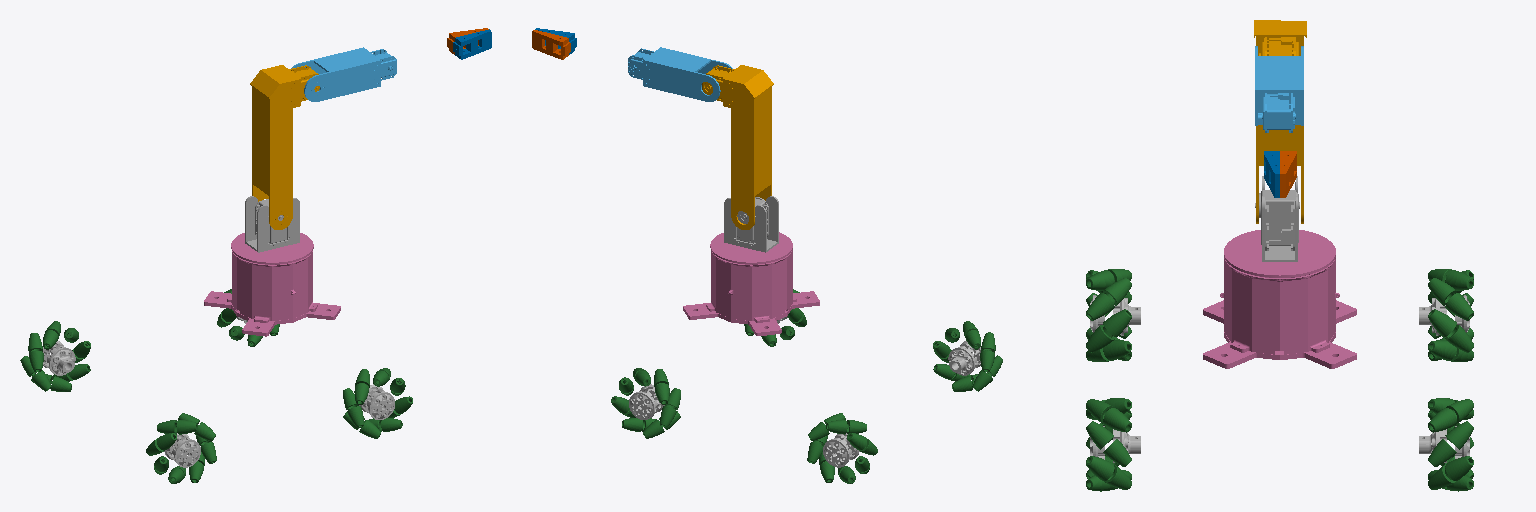
--- What the picture shows (computed from the rendered views, not written in the file) ---
3 views of the same robot in one strip: view 1: azimuth 30°, elevation 25°; view 2: azimuth 150°, elevation 25°; view 3: azimuth 270°, elevation 25° (orthographic).
Robot: omnibot_robot — 94 links, 93 joints (5 revolute, 60 continuous, 2 prismatic, 26 fixed); root link base_footprint; default pose: every joint at zero.
Links seen in each view (by area): view 1: ang_link0, ang_link2, ang_link3, ang_link1, right_front_mecanum_adapter_link, right_back_mecanum_adapter_link, ang_link6, left_back_mecanum_adapter_link; view 2: ang_link0, ang_link2, ang_link3, ang_link1, left_front_mecanum_adapter_link, left_back_mecanum_adapter_link, ang_link7, right_back_mecanum_adapter_link; view 3: ang_link0, ang_link3, ang_link2, ang_link1, ang_link7, ang_link6, right_front_mecanum_adapter_link, left_front_mecanum_adapter_link, left_back_mecanum_adapter_link, right_back_mecanum_adapter_link.
Boxes of the visible links, box(x1,y1,x2,y2) form: ang_link0: box(204, 233, 340, 336); ang_link2: box(250, 65, 319, 229); ang_link3: box(291, 47, 396, 101); ang_link1: box(245, 196, 299, 252); right_front_mecanum_adapter_link: box(359, 384, 394, 419); right_back_mecanum_adapter_link: box(164, 433, 200, 467); ang_link6: box(453, 29, 491, 59); left_back_mecanum_adapter_link: box(43, 341, 75, 375); ang_link0: box(683, 232, 819, 335); ang_link2: box(702, 65, 773, 229); ang_link3: box(628, 47, 732, 101); ang_link1: box(724, 196, 778, 252); left_front_mecanum_adapter_link: box(629, 384, 664, 419); left_back_mecanum_adapter_link: box(823, 433, 859, 467); ang_link7: box(532, 30, 570, 59); right_back_mecanum_adapter_link: box(948, 341, 980, 375); ang_link0: box(1203, 230, 1356, 368); ang_link3: box(1255, 46, 1303, 132); ang_link2: box(1254, 20, 1306, 223); ang_link1: box(1255, 176, 1299, 261); ang_link7: box(1280, 151, 1296, 197); ang_link6: box(1264, 151, 1279, 197); right_front_mecanum_adapter_link: box(1090, 426, 1140, 462); left_front_mecanum_adapter_link: box(1419, 426, 1469, 462); left_back_mecanum_adapter_link: box(1419, 295, 1469, 335); right_back_mecanum_adapter_link: box(1090, 295, 1140, 335).
Bounding box of the posed robot: 0.6909 × 0.4273 × 0.5308 m (x, y, z).
Meshes: 13 distinct files referenced, 66 mesh visuals loaded (7 Collada DAE); not drawn: 9 (reference not matched to a file when rendering).

URDF robot description (omnibot_robot):
<?xml version="1.0" ?>
<!-- =================================================================================== -->
<!-- |    This document was autogenerated by xacro from omnibot_description.urdf.xacro | -->
<!-- |    EDITING THIS FILE BY HAND IS NOT RECOMMENDED                                 | -->
<!-- =================================================================================== -->
<robot name="omnibot_robot">
  <gazebo>
    <plugin filename="libgazebo_ros_control.so" name="gazebo_ros_control">
      <robotNamespace>omnibot_robot</robotNamespace>
    </plugin>
  </gazebo>
  <arg default="omnibot_platform" name="robot_namespace"/>
  <!-- OMNIWHEEL -->
  <!-- REALSENSE -->
  <!-- <xacro:property name="t265_xacro_path"
        value="$(find omnibot_platform_description)/urdf/t265.xacro" />
    <xacro:property name="t265_mesh_path"
        value="package://omnibot_platform_description/meshes/t265.stl" /> -->
  <!-- <xacro:property name="d435_x_offset" value="-0.01950" />
    <xacro:property name="d435_y_offset" value="0.0" />
    <xacro:property name="d435_z_offset" value="0.019" /> -->
  <!--  PLATFORM DESCRIPTION -->
  <link name="base_footprint"/>
  <link name="base_link">
    <inertial>
      <origin rpy="0.0 3.14         -1.57" xyz="0.0 0.0         0.0"/>
      <mass value="3.0"/>
      <inertia ixx="0.03822400000000001" ixy="0" ixz="0" iyy="0.0334243025" iyz="0" izz="0.0334243025"/>
    </inertial>
    <visual name="">
      <origin rpy="0.0 3.14 -1.57" xyz="0.0 0.0 0.0"/>
      <geometry>
        <mesh filename="package://omnibot_platform_description/meshes/base.dae" scale="0.001 0.001 0.001"/>
      </geometry>
      <material name="">
        <color rgba="1.0 0.0 0.0 1.0"/>
        <texture filename=""/>
      </material>
    </visual>
    <collision>
      <origin rpy="0.0 3.14 -1.57" xyz="0.0 0.0 0.0"/>
      <geometry>
        <mesh filename="package://omnibot_platform_description/meshes/base.dae" scale="0.001 0.001 0.001"/>
      </geometry>
    </collision>
  </link>
  <joint name="base_footprint_joint" type="fixed">
    <parent link="base_footprint"/>
    <child link="base_link"/>
    <origin rpy="0.0 0.0 0.0" xyz="0.0 0.0 0.0"/>
  </joint>
  <link name="left_front_mecanum_wheel_link">
    <visual>
      <origin rpy="0 0 1.57" xyz="0 0 0"/>
      <geometry>
        <mesh filename="package://omnibot_platform_description/meshes/wheel_base.dae" scale="0.001 0.001 0.001"/>
      </geometry>
    </visual>
    <collision>
      <origin rpy="0 0 1.57" xyz="0 0 0"/>
      <geometry>
        <mesh filename="package://omnibot_platform_description/meshes/wheel_base.dae" scale="0.001 0.001 0.001"/>
      </geometry>
    </collision>
    <inertial>
      <origin rpy="0 0 0" xyz="0 0 0"/>
      <mass value="0.25"/>
      <inertia ixx="0.0031" ixy="0" ixz="0" iyy="0.005" iyz="0" izz="0.0031"/>
    </inertial>
  </link>
  <joint name="left_front_adapter_connector_joint" type="fixed">
    <parent link="left_front_mecanum_wheel_link"/>
    <child link="left_front_mecanum_adapter_link"/>
    <origin rpy="0 0 1.57" xyz="0 0 0"/>
  </joint>
  <link name="left_front_mecanum_adapter_link">
    <visual>
      <origin rpy="0 0 1.57" xyz="0 0.035 0"/>
      <geometry>
        <mesh filename="package://omnibot_platform_description/meshes/adapter.dae" scale="0.001 0.001 0.001"/>
      </geometry>
    </visual>
    <collision>
      <origin rpy="0 0 1.57" xyz="0 0.035 0"/>
      <geometry>
        <mesh filename="package://omnibot_platform_description/meshes/adapter.dae" scale="0.001 0.001 0.001"/>
      </geometry>
    </collision>
    <inertial>
      <origin rpy="0 0 0" xyz="0 0 0"/>
      <mass value="0.005"/>
      <inertia ixx="0.00001" ixy="0.0" ixz="0.0" iyy="0.00001" iyz="0.0" izz="0.00001"/>
    </inertial>
  </link>
  <gazebo reference="left_front_wheel_link">
    <mu1 value="0.6"/>
    <mu2 value="0.6"/>
    <kp value="10000000.0"/>
    <kd value="1.0"/>
    <fdir1 value="0 1 0"/>
  </gazebo>
  <link name="left_front_roller_1_7_link">
    <visual>
      <origin rpy="0 0 0" xyz="-0.002 0 0"/>
      <geometry>
        <mesh filename="package://omnibot_platform_description/meshes/wheel_roller2.dae" scale="0.001 0.001 0.001"/>
      </geometry>
    </visual>
    <collision>
      <origin rpy="0 0 0" xyz="-0.002 0 0"/>
      <geometry>
        <mesh filename="package://omnibot_platform_description/meshes/wheel_roller2.dae" scale="0.001 0.001 0.001"/>
      </geometry>
    </collision>
    <inertial>
      <origin rpy="0 0 0" xyz="-0.002 0 0"/>
      <mass value="0.3"/>
      <inertia ixx="0.00024000" ixy="0.0" ixz="0.0" iyy="0.00076000" iyz="0.0" izz="0.00076000"/>
    </inertial>
    <surface>
      <friction>
        <ode>
          <mu1>10.2</mu1>
          <mu2>10.2</mu2>
          <kp>1e15</kp>
          <kd>1e13</kd>
        </ode>
      </friction>
      <bounce>
        <restitution_coefficient>0.01</restitution_coefficient>
        <threshold>0</threshold>
      </bounce>
      <contact>
        <ode>
          <max_vel>100</max_vel>
        </ode>
      </contact>
    </surface>
  </link>
  <joint name="left_front_roller_1_7_joint" type="continuous">
    <origin rpy="1.0573448805303245 0.4565720337917211 -0.6635639812413235" xyz="0 0.025122274586293944 -0.03149920859715446"/>
    <axis xyz="1 0 0"/>
    <parent link="left_front_mecanum_wheel_link"/>
    <child link="left_front_roller_1_7_link"/>
    <!-- <safety_controller k_velocity="10.0" /> -->
    <dynamics damping="0.001" friction="0.0001"/>
  </joint>
  <transmission name="left_front_roller_1_7_trans">
    <type>transmission_interface/SimpleTransmission</type>
    <joint name="left_front_roller_1_7_joint">
      <hardwareInterface>hardware_interface/EffortJointInterface</hardwareInterface>
    </joint>
    <actuator name="left_front_roller_1_7_motor">
      <hardwareInterface>hardware_interface/EffortJointInterface</hardwareInterface>
      <mechanismReduction>1</mechanismReduction>
    </actuator>
  </transmission>
  <!-- <gazebo reference="${joint_name}_link">
        <selfCollide>0</selfCollide>
        <kp>1000000</kp>
        <kd>100</kd>
      </gazebo> -->
  <link name="left_front_roller_1_6_link">
    <visual>
      <origin rpy="0 0 0" xyz="-0.002 0 0"/>
      <geometry>
        <mesh filename="package://omnibot_platform_description/meshes/wheel_roller2.dae" scale="0.001 0.001 0.001"/>
      </geometry>
    </visual>
    <collision>
      <origin rpy="0 0 0" xyz="-0.002 0 0"/>
      <geometry>
        <mesh filename="package://omnibot_platform_description/meshes/wheel_roller2.dae" scale="0.001 0.001 0.001"/>
      </geometry>
    </collision>
    <inertial>
      <origin rpy="0 0 0" xyz="-0.002 0 0"/>
      <mass value="0.3"/>
      <inertia ixx="0.00024000" ixy="0.0" ixz="0.0" iyy="0.00076000" iyz="0.0" izz="0.00076000"/>
    </inertial>
    <surface>
      <friction>
        <ode>
          <mu1>10.2</mu1>
          <mu2>10.2</mu2>
          <kp>1e15</kp>
          <kd>1e13</kd>
        </ode>
      </friction>
      <bounce>
        <restitution_coefficient>0.01</restitution_coefficient>
        <threshold>0</threshold>
      </bounce>
      <contact>
        <ode>
          <max_vel>100</max_vel>
        </ode>
      </contact>
    </surface>
  </link>
  <joint name="left_front_roller_1_6_joint" type="continuous">
    <origin rpy="-1.410783610235587 -0.15800265975965155 -0.7727036539648158" xyz="0 -0.008966035991901749 -0.039278870653893495"/>
    <axis xyz="1 0 0"/>
    <parent link="left_front_mecanum_wheel_link"/>
    <child link="left_front_roller_1_6_link"/>
    <!-- <safety_controller k_velocity="10.0" /> -->
    <dynamics damping="0.001" friction="0.0001"/>
  </joint>
  <transmission name="left_front_roller_1_6_trans">
    <type>transmission_interface/SimpleTransmission</type>
    <joint name="left_front_roller_1_6_joint">
      <hardwareInterface>hardware_interface/EffortJointInterface</hardwareInterface>
    </joint>
    <actuator name="left_front_roller_1_6_motor">
      <hardwareInterface>hardware_interface/EffortJointInterface</hardwareInterface>
      <mechanismReduction>1</mechanismReduction>
    </actuator>
  </transmission>
  <!-- <gazebo reference="${joint_name}_link">
        <selfCollide>0</selfCollide>
        <kp>1000000</kp>
        <kd>100</kd>
      </gazebo> -->
  <link name="left_front_roller_1_5_link">
    <visual>
      <origin rpy="0 0 0" xyz="-0.002 0 0"/>
      <geometry>
        <mesh filename="package://omnibot_platform_description/meshes/wheel_roller2.dae" scale="0.001 0.001 0.001"/>
      </geometry>
    </visual>
    <collision>
      <origin rpy="0 0 0" xyz="-0.002 0 0"/>
      <geometry>
        <mesh filename="package://omnibot_platform_description/meshes/wheel_roller2.dae" scale="0.001 0.001 0.001"/>
      </geometry>
    </collision>
    <inertial>
      <origin rpy="0 0 0" xyz="-0.002 0 0"/>
      <mass value="0.3"/>
      <inertia ixx="0.00024000" ixy="0.0" ixz="0.0" iyy="0.00076000" iyz="0.0" izz="0.00076000"/>
    </inertial>
    <surface>
      <friction>
        <ode>
          <mu1>10.2</mu1>
          <mu2>10.2</mu2>
          <kp>1e15</kp>
          <kd>1e13</kd>
        </ode>
      </friction>
      <bounce>
        <restitution_coefficient>0.01</restitution_coefficient>
        <threshold>0</threshold>
      </bounce>
      <contact>
        <ode>
          <max_vel>100</max_vel>
        </ode>
      </contact>
    </surface>
  </link>
  <joint name="left_front_roller_1_5_joint" type="continuous">
    <origin rpy="-0.5978938662841263 -0.6907055756402474 -0.4093711270983411" xyz="0 -0.036302738594392175 -0.017480741965307293"/>
    <axis xyz="1 0 0"/>
    <parent link="left_front_mecanum_wheel_link"/>
    <child link="left_front_roller_1_5_link"/>
    <!-- <safety_controller k_velocity="10.0" /> -->
    <dynamics damping="0.001" friction="0.0001"/>
  </joint>
  <transmission name="left_front_roller_1_5_trans">
    <type>transmission_interface/SimpleTransmission</type>
    <joint name="left_front_roller_1_5_joint">
      <hardwareInterface>hardware_interface/EffortJointInterface</hardwareInterface>
    </joint>
    <actuator name="left_front_roller_1_5_motor">
      <hardwareInterface>hardware_interface/EffortJointInterface</hardwareInterface>
      <mechanismReduction>1</mechanismReduction>
    </actuator>
  </transmission>
  <!-- <gazebo reference="${joint_name}_link">
        <selfCollide>0</selfCollide>
        <kp>1000000</kp>
        <kd>100</kd>
      </gazebo> -->
  <link name="left_front_roller_1_4_link">
    <visual>
      <origin rpy="0 0 0" xyz="-0.002 0 0"/>
      <geometry>
        <mesh filename="package://omnibot_platform_description/meshes/wheel_roller2.dae" scale="0.001 0.001 0.001"/>
      </geometry>
    </visual>
    <collision>
      <origin rpy="0 0 0" xyz="-0.002 0 0"/>
      <geometry>
        <mesh filename="package://omnibot_platform_description/meshes/wheel_roller2.dae" scale="0.001 0.001 0.001"/>
      </geometry>
    </collision>
    <inertial>
      <origin rpy="0 0 0" xyz="-0.002 0 0"/>
      <mass value="0.3"/>
      <inertia ixx="0.00024000" ixy="0.0" ixz="0.0" iyy="0.00076000" iyz="0.0" izz="0.00076000"/>
    </inertial>
    <surface>
      <friction>
        <ode>
          <mu1>10.2</mu1>
          <mu2>10.2</mu2>
          <kp>1e15</kp>
          <kd>1e13</kd>
        </ode>
      </friction>
      <bounce>
        <restitution_coefficient>0.01</restitution_coefficient>
        <threshold>0</threshold>
      </bounce>
      <contact>
        <ode>
          <max_vel>100</max_vel>
        </ode>
      </contact>
    </surface>
  </link>
  <joint name="left_front_roller_1_4_joint" type="continuous">
    <origin rpy="0.5978938662841266 -0.6907055756402473 0.4093711270983413" xyz="0 -0.036302738594392175 0.017480741965307304"/>
    <axis xyz="1 0 0"/>
    <parent link="left_front_mecanum_wheel_link"/>
    <child link="left_front_roller_1_4_link"/>
    <!-- <safety_controller k_velocity="10.0" /> -->
    <dynamics damping="0.001" friction="0.0001"/>
  </joint>
  <transmission name="left_front_roller_1_4_trans">
    <type>transmission_interface/SimpleTransmission</type>
    <joint name="left_front_roller_1_4_joint">
      <hardwareInterface>hardware_interface/EffortJointInterface</hardwareInterface>
    </joint>
    <actuator name="left_front_roller_1_4_motor">
      <hardwareInterface>hardware_interface/EffortJointInterface</hardwareInterface>
      <mechanismReduction>1</mechanismReduction>
    </actuator>
  </transmission>
  <!-- <gazebo reference="${joint_name}_link">
        <selfCollide>0</selfCollide>
        <kp>1000000</kp>
        <kd>100</kd>
      </gazebo> -->
  <link name="left_front_roller_1_3_link">
    <visual>
      <origin rpy="0 0 0" xyz="-0.002 0 0"/>
      <geometry>
        <mesh filename="package://omnibot_platform_description/meshes/wheel_roller2.dae" scale="0.001 0.001 0.001"/>
      </geometry>
    </visual>
    <collision>
      <origin rpy="0 0 0" xyz="-0.002 0 0"/>
      <geometry>
        <mesh filename="package://omnibot_platform_description/meshes/wheel_roller2.dae" scale="0.001 0.001 0.001"/>
      </geometry>
    </collision>
    <inertial>
      <origin rpy="0 0 0" xyz="-0.002 0 0"/>
      <mass value="0.3"/>
      <inertia ixx="0.00024000" ixy="0.0" ixz="0.0" iyy="0.00076000" iyz="0.0" izz="0.00076000"/>
    </inertial>
    <surface>
      <friction>
        <ode>
          <mu1>10.2</mu1>
          <mu2>10.2</mu2>
          <kp>1e15</kp>
          <kd>1e13</kd>
        </ode>
      </friction>
      <bounce>
        <restitution_coefficient>0.01</restitution_coefficient>
        <threshold>0</threshold>
      </bounce>
      <contact>
        <ode>
          <max_vel>100</max_vel>
        </ode>
      </contact>
    </surface>
  </link>
  <joint name="left_front_roller_1_3_joint" type="continuous">
    <origin rpy="1.4107836102355866 -0.15800265975965203 0.7727036539648157" xyz="0 -0.008966035991901775 0.03927887065389349"/>
    <axis xyz="1 0 0"/>
    <parent link="left_front_mecanum_wheel_link"/>
    <child link="left_front_roller_1_3_link"/>
    <!-- <safety_controller k_velocity="10.0" /> -->
    <dynamics damping="0.001" friction="0.0001"/>
  </joint>
  <transmission name="left_front_roller_1_3_trans">
    <type>transmission_interface/SimpleTransmission</type>
    <joint name="left_front_roller_1_3_joint">
      <hardwareInterface>hardware_interface/EffortJointInterface</hardwareInterface>
    </joint>
    <actuator name="left_front_roller_1_3_motor">
      <hardwareInterface>hardware_interface/EffortJointInterface</hardwareInterface>
      <mechanismReduction>1</mechanismReduction>
    </actuator>
  </transmission>
  <!-- <gazebo reference="${joint_name}_link">
        <selfCollide>0</selfCollide>
        <kp>1000000</kp>
        <kd>100</kd>
      </gazebo> -->
  <link name="left_front_roller_1_2_link">
    <visual>
      <origin rpy="0 0 0" xyz="-0.002 0 0"/>
      <geometry>
        <mesh filename="package://omnibot_platform_description/meshes/wheel_roller2.dae" scale="0.001 0.001 0.001"/>
      </geometry>
    </visual>
    <collision>
      <origin rpy="0 0 0" xyz="-0.002 0 0"/>
      <geometry>
        <mesh filename="package://omnibot_platform_description/meshes/wheel_roller2.dae" scale="0.001 0.001 0.001"/>
      </geometry>
    </collision>
    <inertial>
      <origin rpy="0 0 0" xyz="-0.002 0 0"/>
      <mass value="0.3"/>
      <inertia ixx="0.00024000" ixy="0.0" ixz="0.0" iyy="0.00076000" iyz="0.0" izz="0.00076000"/>
    </inertial>
    <surface>
      <friction>
        <ode>
          <mu1>10.2</mu1>
          <mu2>10.2</mu2>
          <kp>1e15</kp>
          <kd>1e13</kd>
        </ode>
      </friction>
      <bounce>
        <restitution_coefficient>0.01</restitution_coefficient>
        <threshold>0</threshold>
      </bounce>
      <contact>
        <ode>
          <max_vel>100</max_vel>
        </ode>
      </contact>
    </surface>
  </link>
  <joint name="left_front_roller_1_2_joint" type="continuous">
    <origin rpy="-1.0573448805303243 0.4565720337917213 0.6635639812413234" xyz="0 0.025122274586293954 0.03149920859715445"/>
    <axis xyz="1 0 0"/>
    <parent link="left_front_mecanum_wheel_link"/>
    <child link="left_front_roller_1_2_link"/>
    <!-- <safety_controller k_velocity="10.0" /> -->
    <dynamics damping="0.001" friction="0.0001"/>
  </joint>
  <transmission name="left_front_roller_1_2_trans">
    <type>transmission_interface/SimpleTransmission</type>
    <joint name="left_front_roller_1_2_joint">
      <hardwareInterface>hardware_interface/EffortJointInterface</hardwareInterface>
    </joint>
    <actuator name="left_front_roller_1_2_motor">
      <hardwareInterface>hardware_interface/EffortJointInterface</hardwareInterface>
      <mechanismReduction>1</mechanismReduction>
    </actuator>
  </transmission>
  <!-- <gazebo reference="${joint_name}_link">
        <selfCollide>0</selfCollide>
        <kp>1000000</kp>
        <kd>100</kd>
      </gazebo> -->
  <link name="left_front_roller_1_1_link">
    <visual>
      <origin rpy="0 0 0" xyz="-0.002 0 0"/>
      <geometry>
        <mesh filename="package://omnibot_platform_description/meshes/wheel_roller2.dae" scale="0.001 0.001 0.001"/>
      </geometry>
    </visual>
    <collision>
      <origin rpy="0 0 0" xyz="-0.002 0 0"/>
      <geometry>
        <mesh filename="package://omnibot_platform_description/meshes/wheel_roller2.dae" scale="0.001 0.001 0.001"/>
      </geometry>
    </collision>
    <inertial>
      <origin rpy="0 0 0" xyz="-0.002 0 0"/>
      <mass value="0.3"/>
      <inertia ixx="0.00024000" ixy="0.0" ixz="0.0" iyy="0.00076000" iyz="0.0" izz="0.00076000"/>
    </inertial>
    <surface>
      <friction>
        <ode>
          <mu1>10.2</mu1>
          <mu2>10.2</mu2>
          <kp>1e15</kp>
          <kd>1e13</kd>
        </ode>
      </friction>
      <bounce>
        <restitution_coefficient>0.01</restitution_coefficient>
        <threshold>0</threshold>
      </bounce>
      <contact>
        <ode>
          <max_vel>100</max_vel>
        </ode>
      </contact>
    </surface>
  </link>
  <joint name="left_front_roller_1_1_joint" type="continuous">
    <origin rpy="-0.0 0.7853981633974482 0.0" xyz="0 0.040293 0.0"/>
    <axis xyz="1 0 0"/>
    <parent link="left_front_mecanum_wheel_link"/>
    <child link="left_front_roller_1_1_link"/>
    <!-- <safety_controller k_velocity="10.0" /> -->
    <dynamics damping="0.001" friction="0.0001"/>
  </joint>
  <transmission name="left_front_roller_1_1_trans">
    <type>transmission_interface/SimpleTransmission</type>
    <joint name="left_front_roller_1_1_joint">
      <hardwareInterface>hardware_interface/EffortJointInterface</hardwareInterface>
    </joint>
    <actuator name="left_front_roller_1_1_motor">
      <hardwareInterface>hardware_interface/EffortJointInterface</hardwareInterface>
      <mechanismReduction>1</mechanismReduction>
    </actuator>
  </transmission>
  <!-- <gazebo reference="${joint_name}_link">
        <selfCollide>0</selfCollide>
        <kp>1000000</kp>
        <kd>100</kd>
      </gazebo> -->
  <link name="left_front_roller_2_7_link">
    <visual>
      <origin rpy="0 0 0" xyz="-0.002 0 0"/>
      <geometry>
        <mesh filename="package://omnibot_platform_description/meshes/wheel_roller2.dae" scale="0.001 0.001 0.001"/>
      </geometry>
    </visual>
    <collision>
      <origin rpy="0 0 0" xyz="-0.002 0 0"/>
      <geometry>
        <mesh filename="package://omnibot_platform_description/meshes/wheel_roller2.dae" scale="0.001 0.001 0.001"/>
      </geometry>
    </collision>
    <inertial>
      <origin rpy="0 0 0" xyz="-0.002 0 0"/>
      <mass value="0.3"/>
      <inertia ixx="0.00024000" ixy="0.0" ixz="0.0" iyy="0.00076000" iyz="0.0" izz="0.00076000"/>
    </inertial>
    <surface>
      <friction>
        <ode>
          <mu1>10.2</mu1>
          <mu2>10.2</mu2>
          <kp>1e15</kp>
          <kd>1e13</kd>
        </ode>
      </friction>
      <bounce>
        <restitution_coefficient>0.01</restitution_coefficient>
        <threshold>0</threshold>
      </bounce>
      <contact>
        <ode>
          <max_vel>100</max_vel>
        </ode>
      </contact>
    </surface>
  </link>
  <joint name="left_front_roller_2_7_joint" type="continuous">
    <origin rpy="4.197344880530324 3.596572033791721 -0.6635639812413235" xyz="0 0.025122274586293944 -0.03149920859715446"/>
    <axis xyz="1 0 0"/>
    <parent link="left_front_mecanum_wheel_link"/>
    <child link="left_front_roller_2_7_link"/>
    <!-- <safety_controller k_velocity="10.0" /> -->
    <dynamics damping="0.001" friction="0.0001"/>
  </joint>
  <transmission name="left_front_roller_2_7_trans">
    <type>transmission_interface/SimpleTransmission</type>
    <joint name="left_front_roller_2_7_joint">
      <hardwareInterface>hardware_interface/EffortJointInterface</hardwareInterface>
    </joint>
    <actuator name="left_front_roller_2_7_motor">
      <hardwareInterface>hardware_interface/EffortJointInterface</hardwareInterface>
      <mechanismReduction>1</mechanismReduction>
    </actuator>
  </transmission>
  <!-- <gazebo reference="${joint_name}_link">
        <selfCollide>0</selfCollide>
        <kp>1000000</kp>
        <kd>100</kd>
      </gazebo> -->
  <link name="left_front_roller_2_6_link">
    <visual>
      <origin rpy="0 0 0" xyz="-0.002 0 0"/>
      <geometry>
        <mesh filename="package://omnibot_platform_description/meshes/wheel_roller2.dae" scale="0.001 0.001 0.001"/>
      </geometry>
    </visual>
    <collision>
      <origin rpy="0 0 0" xyz="-0.002 0 0"/>
      <geometry>
        <mesh filename="package://omnibot_platform_description/meshes/wheel_roller2.dae" scale="0.001 0.001 0.001"/>
      </geometry>
    </collision>
    <inertial>
      <origin rpy="0 0 0" xyz="-0.002 0 0"/>
      <mass value="0.3"/>
      <inertia ixx="0.00024000" ixy="0.0" ixz="0.0" iyy="0.00076000" iyz="0.0" izz="0.00076000"/>
    </inertial>
    <surface>
      <friction>
        <ode>
          <mu1>10.2</mu1>
          <mu2>10.2</mu2>
          <kp>1e15</kp>
          <kd>1e13</kd>
        </ode>
      </friction>
      <bounce>
        <restitution_coefficient>0.01</restitution_coefficient>
        <threshold>0</threshold>
      </bounce>
      <contact>
        <ode>
          <max_vel>100</max_vel>
        </ode>
      </contact>
    </surface>
  </link>
  <joint name="left_front_roller_2_6_joint" type="continuous">
    <origin rpy="1.729216389764413 2.9819973402403486 -0.7727036539648158" xyz="0 -0.008966035991901749 -0.039278870653893495"/>
    <axis xyz="1 0 0"/>
    <parent link="left_front_mecanum_wheel_link"/>
    <child link="left_front_roller_2_6_link"/>
    <!-- <safety_controller k_velocity="10.0" /> -->
    <dynamics damping="0.001" friction="0.0001"/>
  </joint>
  <transmission name="left_front_roller_2_6_trans">
    <type>transmission_interface/SimpleTransmission</type>
    <joint name="left_front_roller_2_6_joint">
      <hardwareInterface>hardware_interface/EffortJointInterface</hardwareInterface>
    </joint>
    <actuator name="left_front_roller_2_6_motor">
      <hardwareInterface>hardware_interface/EffortJointInterface</hardwareInterface>
      <mechanismReduction>1</mechanismReduction>
    </actuator>
  </transmission>
  <!-- <gazebo reference="${joint_name}_link">
        <selfCollide>0</selfCollide>
        <kp>1000000</kp>
        <kd>100</kd>
      </gazebo> -->
  <link name="left_front_roller_2_5_link">
    <visual>
      <origin rpy="0 0 0" xyz="-0.002 0 0"/>
      <geometry>
        <mesh filename="package://omnibot_platform_description/meshes/wheel_roller2.dae" scale="0.001 0.001 0.001"/>
      </geometry>
    </visual>
    <collision>
      <origin rpy="0 0 0" xyz="-0.002 0 0"/>
      <geometry>
        <mesh filename="package://omnibot_platform_description/meshes/wheel_roller2.dae" scale="0.001 0.001 0.001"/>
      </geometry>
    </collision>
    <inertial>
      <origin rpy="0 0 0" xyz="-0.002 0 0"/>
      <mass value="0.3"/>
      <inertia ixx="0.00024000" ixy="0.0" ixz="0.0" iyy="0.00076000" iyz="0.0" izz="0.00076000"/>
    </inertial>
    <surface>
      <friction>
        <ode>
          <mu1>10.2</mu1>
          <mu2>10.2</mu2>
          <kp>1e15</kp>
          <kd>1e13</kd>
        </ode>
      </friction>
      <bounce>
        <restitution_coefficient>0.01</restitution_coefficient>
        <threshold>0</threshold>
      </bounce>
      <contact>
        <ode>
          <max_vel>100</max_vel>
        </ode>
      </contact>
    </surface>
  </link>
  <joint name="left_front_roller_2_5_joint" type="continuous">
    <origin rpy="2.542106133715874 2.4492944243597528 -0.4093711270983411" xyz="0 -0.036302738594392175 -0.017480741965307293"/>
    <axis xyz="1 0 0"/>
    <parent link="left_front_mecanum_wheel_link"/>
    <child link="left_front_roller_2_5_link"/>
    <!-- <safety_controller k_velocity="10.0" /> -->
    <dynamics damping="0.001" friction="0.0001"/>
  </joint>
  <transmission name="left_front_roller_2_5_trans">
    <type>transmission_interface/SimpleTransmission</type>
    <joint name="left_front_roller_2_5_joint">
      <hardwareInterface>hardware_interface/EffortJointInterface</hardwareInterface>
    </joint>
    <actuator name="left_front_roller_2_5_motor">
      <hardwareInterface>hardware_interface/EffortJointInterface</hardwareInterface>
      <mechanismReduction>1</mechanismReduction>
    </actuator>
  </transmission>
  <!-- <gazebo reference="${joint_name}_link">
        <selfCollide>0</selfCollide>
        <kp>1000000</kp>
        <kd>100</kd>
      </gazebo> -->
  <link name="left_front_roller_2_4_link">
    <visual>
      <origin rpy="0 0 0" xyz="-0.002 0 0"/>
      <geometry>
        <mesh filename="package://omnibot_platform_description/meshes/wheel_roller2.dae" scale="0.001 0.001 0.001"/>
      </geometry>
    </visual>
    <collision>
      <origin rpy="0 0 0" xyz="-0.002 0 0"/>
      <geometry>
        <mesh filename="package://omnibot_platform_description/meshes/wheel_roller2.dae" scale="0.001 0.001 0.001"/>
      </geometry>
    </collision>
    <inertial>
      <origin rpy="0 0 0" xyz="-0.002 0 0"/>
      <mass value="0.3"/>
      <inertia ixx="0.00024000" ixy="0.0" ixz="0.0" iyy="0.00076000" iyz="0.0" izz="0.00076000"/>
    </inertial>
    <surface>
      <friction>
        <ode>
          <mu1>10.2</mu1>
          <mu2>10.2</mu2>
          <kp>1e15</kp>
          <kd>1e13</kd>
        </ode>
      </friction>
      <bounce>
        <restitution_coefficient>0.01</restitution_coefficient>
        <threshold>0</threshold>
      </bounce>
      <contact>
        <ode>
          <max_vel>100</max_vel>
        </ode>
      </contact>
    </surface>
  </link>
  <joint name="left_front_roller_2_4_joint" type="continuous">
    <origin rpy="3.737893866284127 2.4492944243597528 0.4093711270983413" xyz="0 -0.036302738594392175 0.017480741965307304"/>
    <axis xyz="1 0 0"/>
    <parent link="left_front_mecanum_wheel_link"/>
    <child link="left_front_roller_2_4_link"/>
    <!-- <safety_controller k_velocity="10.0" /> -->
    <dynamics damping="0.001" friction="0.0001"/>
  </joint>
  <transmission name="left_front_roller_2_4_trans">
    <type>transmission_interface/SimpleTransmission</type>
    <joint name="left_front_roller_2_4_joint">
      <hardwareInterface>hardware_interface/EffortJointInterface</hardwareInterface>
    </joint>
    <actuator name="left_front_roller_2_4_motor">
      <hardwareInterface>hardware_interface/EffortJointInterface</hardwareInterface>
      <mechanismReduction>1</mechanismReduction>
    </actuator>
  </transmission>
  <!-- <gazebo reference="${joint_name}_link">
        <selfCollide>0</selfCollide>
        <kp>1000000</kp>
        <kd>100</kd>
      </gazebo> -->
  <link name="left_front_roller_2_3_link">
    <visual>
      <origin rpy="0 0 0" xyz="-0.002 0 0"/>
      <geometry>
        <mesh filename="package://omnibot_platform_description/meshes/wheel_roller2.dae" scale="0.001 0.001 0.001"/>
      </geometry>
    </visual>
    <collision>
      <origin rpy="0 0 0" xyz="-0.002 0 0"/>
      <geometry>
        <mesh filename="package://omnibot_platform_description/meshes/wheel_roller2.dae" scale="0.001 0.001 0.001"/>
      </geometry>
    </collision>
    <inertial>
      <origin rpy="0 0 0" xyz="-0.002 0 0"/>
      <mass value="0.3"/>
      <inertia ixx="0.00024000" ixy="0.0" ixz="0.0" iyy="0.00076000" iyz="0.0" izz="0.00076000"/>
    </inertial>
    <surface>
      <friction>
        <ode>
          <mu1>10.2</mu1>
          <mu2>10.2</mu2>
          <kp>1e15</kp>
          <kd>1e13</kd>
        </ode>
      </friction>
      <bounce>
        <restitution_coefficient>0.01</restitution_coefficient>
        <threshold>0</threshold>
      </bounce>
      <contact>
        <ode>
          <max_vel>100</max_vel>
        </ode>
      </contact>
    </surface>
  </link>
  <joint name="left_front_roller_2_3_joint" type="continuous">
    <origin rpy="4.5507836102355865 2.981997340240348 0.7727036539648157" xyz="0 -0.008966035991901775 0.03927887065389349"/>
    <axis xyz="1 0 0"/>
    <parent link="left_front_mecanum_wheel_link"/>
    <child link="left_front_roller_2_3_link"/>
    <!-- <safety_controller k_velocity="10.0" /> -->
    <dynamics damping="0.001" friction="0.0001"/>
  </joint>
  <transmission name="left_front_roller_2_3_trans">
    <type>transmission_interface/SimpleTransmission</type>
    <joint name="left_front_roller_2_3_joint">
      <hardwareInterface>hardware_interface/EffortJointInterface</hardwareInterface>
    </joint>
    <actuator name="left_front_roller_2_3_motor">
      <hardwareInterface>hardware_interface/EffortJointInterface</hardwareInterface>
      <mechanismReduction>1</mechanismReduction>
    </actuator>
  </transmission>
  <!-- <gazebo reference="${joint_name}_link">
        <selfCollide>0</selfCollide>
        <kp>1000000</kp>
        <kd>100</kd>
      </gazebo> -->
  <link name="left_front_roller_2_2_link">
    <visual>
      <origin rpy="0 0 0" xyz="-0.002 0 0"/>
      <geometry>
        <mesh filename="package://omnibot_platform_description/meshes/wheel_roller2.dae" scale="0.001 0.001 0.001"/>
      </geometry>
    </visual>
    <collision>
      <origin rpy="0 0 0" xyz="-0.002 0 0"/>
      <geometry>
        <mesh filename="package://omnibot_platform_description/meshes/wheel_roller2.dae" scale="0.001 0.001 0.001"/>
      </geometry>
    </collision>
    <inertial>
      <origin rpy="0 0 0" xyz="-0.002 0 0"/>
      <mass value="0.3"/>
      <inertia ixx="0.00024000" ixy="0.0" ixz="0.0" iyy="0.00076000" iyz="0.0" izz="0.00076000"/>
    </inertial>
    <surface>
      <friction>
        <ode>
          <mu1>10.2</mu1>
          <mu2>10.2</mu2>
          <kp>1e15</kp>
          <kd>1e13</kd>
        </ode>
      </friction>
      <bounce>
        <restitution_coefficient>0.01</restitution_coefficient>
        <threshold>0</threshold>
      </bounce>
      <contact>
        <ode>
          <max_vel>100</max_vel>
        </ode>
      </contact>
    </surface>
  </link>
  <joint name="left_front_roller_2_2_joint" type="continuous">
    <origin rpy="2.082655119469676 3.5965720337917215 0.6635639812413234" xyz="0 0.025122274586293954 0.03149920859715445"/>
    <axis xyz="1 0 0"/>
    <parent link="left_front_mecanum_wheel_link"/>
    <child link="left_front_roller_2_2_link"/>
    <!-- <safety_controller k_velocity="10.0" /> -->
    <dynamics damping="0.001" friction="0.0001"/>
  </joint>
  <transmission name="left_front_roller_2_2_trans">
    <type>transmission_interface/SimpleTransmission</type>
    <joint name="left_front_roller_2_2_joint">
      <hardwareInterface>hardware_interface/EffortJointInterface</hardwareInterface>
    </joint>
    <actuator name="left_front_roller_2_2_motor">
      <hardwareInterface>hardware_interface/EffortJointInterface</hardwareInterface>
      <mechanismReduction>1</mechanismReduction>
    </actuator>
  </transmission>
  <!-- <gazebo reference="${joint_name}_link">
        <selfCollide>0</selfCollide>
        <kp>1000000</kp>
        <kd>100</kd>
      </gazebo> -->
  <link name="left_front_roller_2_1_link">
    <visual>
      <origin rpy="0 0 0" xyz="-0.002 0 0"/>
      <geometry>
        <mesh filename="package://omnibot_platform_description/meshes/wheel_roller2.dae" scale="0.001 0.001 0.001"/>
      </geometry>
    </visual>
    <collision>
      <origin rpy="0 0 0" xyz="-0.002 0 0"/>
      <geometry>
        <mesh filename="package://omnibot_platform_description/meshes/wheel_roller2.dae" scale="0.001 0.001 0.001"/>
      </geometry>
    </collision>
    <inertial>
      <origin rpy="0 0 0" xyz="-0.002 0 0"/>
      <mass value="0.3"/>
      <inertia ixx="0.00024000" ixy="0.0" ixz="0.0" iyy="0.00076000" iyz="0.0" izz="0.00076000"/>
    </inertial>
    <surface>
      <friction>
        <ode>
          <mu1>10.2</mu1>
          <mu2>10.2</mu2>
          <kp>1e15</kp>
          <kd>1e13</kd>
        </ode>
      </friction>
      <bounce>
        <restitution_coefficient>0.01</restitution_coefficient>
        <threshold>0</threshold>
      </bounce>
      <contact>
        <ode>
          <max_vel>100</max_vel>
        </ode>
      </contact>
    </surface>
  </link>
  <joint name="left_front_roller_2_1_joint" type="continuous">
    <origin rpy="3.14 3.9253981633974484 0.0" xyz="0 0.040293 0.0"/>
    <axis xyz="1 0 0"/>
    <parent link="left_front_mecanum_wheel_link"/>
    <child link="left_front_roller_2_1_link"/>
    <!-- <safety_controller k_velocity="10.0" /> -->
    <dynamics damping="0.001" friction="0.0001"/>
  </joint>
  <transmission name="left_front_roller_2_1_trans">
    <type>transmission_interface/SimpleTransmission</type>
    <joint name="left_front_roller_2_1_joint">
      <hardwareInterface>hardware_interface/EffortJointInterface</hardwareInterface>
    </joint>
    <actuator name="left_front_roller_2_1_motor">
      <hardwareInterface>hardware_interface/EffortJointInterface</hardwareInterface>
      <mechanismReduction>1</mechanismReduction>
    </actuator>
  </transmission>
  <!-- <gazebo reference="${joint_name}_link">
        <selfCollide>0</selfCollide>
        <kp>1000000</kp>
        <kd>100</kd>
      </gazebo> -->
  <transmission name="left_front_mecanum_trans">
    <type>transmission_interface/SimpleTransmission</type>
    <actuator name="left_front_mecanum_motor">
      <mechanicalReduction>1</mechanicalReduction>
    </actuator>
    <joint name="left_front_mecanum_joint">
      <hardwareInterface>hardware_interface/VelocityJointInterface</hardwareInterface>
    </joint>
  </transmission>
  <joint name="left_front_mecanum_joint" type="continuous">
    <origin rpy="0.0 0.0 1.57" xyz="0.168 0.18805 0.0155"/>
    <parent link="base_link"/>
    <child link="left_front_mecanum_wheel_link"/>
    <axis xyz="1 0 0"/>
    <limit effort="1000.0" lower="-3.14" upper="3.14" velocity="100.0"/>
  </joint>
  <link name="right_front_mecanum_wheel_link">
    <visual>
      <origin rpy="0 0 -1.57" xyz="0 0 0"/>
      <geometry>
        <mesh filename="package://omnibot_platform_description/meshes/wheel_base.dae" scale="-0.001 0.001 0.001"/>
      </geometry>
    </visual>
    <collision>
      <origin rpy="0 0 -1.57" xyz="0 0 0"/>
      <geometry>
        <mesh filename="package://omnibot_platform_description/meshes/wheel_base.dae" scale="-0.001 0.001 0.001"/>
      </geometry>
    </collision>
    <inertial>
      <origin rpy="0 0 0" xyz="0 0 0"/>
      <mass value="0.25"/>
      <inertia ixx="0.0031" ixy="0" ixz="0" iyy="0.005" iyz="0" izz="0.0031"/>
    </inertial>
  </link>
  <joint name="right_front_adapter_connector_joint" type="fixed">
    <parent link="right_front_mecanum_wheel_link"/>
    <child link="right_front_mecanum_adapter_link"/>
    <origin rpy="0 0 -1.57" xyz="0 0 0"/>
  </joint>
  <link name="right_front_mecanum_adapter_link">
    <visual>
      <origin rpy="0 0 -1.57" xyz="0 0.035 0"/>
      <geometry>
        <mesh filename="package://omnibot_platform_description/meshes/adapter.dae" scale="-0.001 0.001 0.001"/>
      </geometry>
    </visual>
    <collision>
      <origin rpy="0 0 -1.57" xyz="0 0.035 0"/>
      <geometry>
        <mesh filename="package://omnibot_platform_description/meshes/adapter.dae" scale="-0.001 0.001 0.001"/>
      </geometry>
    </collision>
    <inertial>
      <origin rpy="0 0 0" xyz="0 0 0"/>
      <mass value="0.005"/>
      <inertia ixx="0.00001" ixy="0.0" ixz="0.0" iyy="0.00001" iyz="0.0" izz="0.00001"/>
    </inertial>
  </link>
  <gazebo reference="right_front_wheel_link">
    <mu1 value="0.6"/>
    <mu2 value="0.6"/>
    <kp value="10000000.0"/>
    <kd value="1.0"/>
    <fdir1 value="0 1 0"/>
  </gazebo>
  <link name="right_front_roller_1_7_link">
    <visual>
      <origin rpy="0 0 0" xyz="-0.002 0 0"/>
      <geometry>
        <mesh filename="package://omnibot_platform_description/meshes/wheel_roller2.dae" scale="0.001 0.001 0.001"/>
      </geometry>
    </visual>
    <collision>
      <origin rpy="0 0 0" xyz="-0.002 0 0"/>
      <geometry>
        <mesh filename="package://omnibot_platform_description/meshes/wheel_roller2.dae" scale="0.001 0.001 0.001"/>
      </geometry>
    </collision>
    <inertial>
      <origin rpy="0 0 0" xyz="-0.002 0 0"/>
      <mass value="0.3"/>
      <inertia ixx="0.00024000" ixy="0.0" ixz="0.0" iyy="0.00076000" iyz="0.0" izz="0.00076000"/>
    </inertial>
    <surface>
      <friction>
        <ode>
          <mu1>10.2</mu1>
          <mu2>10.2</mu2>
          <kp>1e15</kp>
          <kd>1e13</kd>
        </ode>
      </friction>
      <bounce>
        <restitution_coefficient>0.01</restitution_coefficient>
        <threshold>0</threshold>
      </bounce>
      <contact>
        <ode>
          <max_vel>100</max_vel>
        </ode>
      </contact>
    </surface>
  </link>
  <joint name="right_front_roller_1_7_joint" type="continuous">
    <origin rpy="1.0573448805303245 -0.4565720337917211 0.6635639812413235" xyz="0 0.025122274586293944 -0.03150233592308433"/>
    <axis xyz="1 0 0"/>
    <parent link="right_front_mecanum_wheel_link"/>
    <child link="right_front_roller_1_7_link"/>
    <!-- <safety_controller k_velocity="10.0" /> -->
    <dynamics damping="0.001" friction="0.0001"/>
  </joint>
  <transmission name="right_front_roller_1_7_trans">
    <type>transmission_interface/SimpleTransmission</type>
    <joint name="right_front_roller_1_7_joint">
      <hardwareInterface>hardware_interface/EffortJointInterface</hardwareInterface>
    </joint>
    <actuator name="right_front_roller_1_7_motor">
      <hardwareInterface>hardware_interface/EffortJointInterface</hardwareInterface>
      <mechanismReduction>1</mechanismReduction>
    </actuator>
  </transmission>
  <!-- <gazebo reference="${joint_name}_link">
        <selfCollide>0</selfCollide>
        <kp>1000000</kp>
        <kd>100</kd>
      </gazebo> -->
  <link name="right_front_roller_1_6_link">
    <visual>
      <origin rpy="0 0 0" xyz="-0.002 0 0"/>
      <geometry>
        <mesh filename="package://omnibot_platform_description/meshes/wheel_roller2.dae" scale="0.001 0.001 0.001"/>
      </geometry>
    </visual>
    <collision>
      <origin rpy="0 0 0" xyz="-0.002 0 0"/>
      <geometry>
        <mesh filename="package://omnibot_platform_description/meshes/wheel_roller2.dae" scale="0.001 0.001 0.001"/>
      </geometry>
    </collision>
    <inertial>
      <origin rpy="0 0 0" xyz="-0.002 0 0"/>
      <mass value="0.3"/>
      <inertia ixx="0.00024000" ixy="0.0" ixz="0.0" iyy="0.00076000" iyz="0.0" izz="0.00076000"/>
    </inertial>
    <surface>
      <friction>
        <ode>
          <mu1>10.2</mu1>
          <mu2>10.2</mu2>
          <kp>1e15</kp>
          <kd>1e13</kd>
        </ode>
      </friction>
      <bounce>
        <restitution_coefficient>0.01</restitution_coefficient>
        <threshold>0</threshold>
      </bounce>
      <contact>
        <ode>
          <max_vel>100</max_vel>
        </ode>
      </contact>
    </surface>
  </link>
  <joint name="right_front_roller_1_6_joint" type="continuous">
    <origin rpy="-1.410783610235587 0.15800265975965155 0.7727036539648158" xyz="0 -0.008966035991901749 -0.03928277036554222"/>
    <axis xyz="1 0 0"/>
    <parent link="right_front_mecanum_wheel_link"/>
    <child link="right_front_roller_1_6_link"/>
    <!-- <safety_controller k_velocity="10.0" /> -->
    <dynamics damping="0.001" friction="0.0001"/>
  </joint>
  <transmission name="right_front_roller_1_6_trans">
    <type>transmission_interface/SimpleTransmission</type>
    <joint name="right_front_roller_1_6_joint">
      <hardwareInterface>hardware_interface/EffortJointInterface</hardwareInterface>
    </joint>
    <actuator name="right_front_roller_1_6_motor">
      <hardwareInterface>hardware_interface/EffortJointInterface</hardwareInterface>
      <mechanismReduction>1</mechanismReduction>
    </actuator>
  </transmission>
  <!-- <gazebo reference="${joint_name}_link">
        <selfCollide>0</selfCollide>
        <kp>1000000</kp>
        <kd>100</kd>
      </gazebo> -->
  <link name="right_front_roller_1_5_link">
    <visual>
      <origin rpy="0 0 0" xyz="-0.002 0 0"/>
      <geometry>
        <mesh filename="package://omnibot_platform_description/meshes/wheel_roller2.dae" scale="0.001 0.001 0.001"/>
      </geometry>
    </visual>
    <collision>
      <origin rpy="0 0 0" xyz="-0.002 0 0"/>
      <geometry>
        <mesh filename="package://omnibot_platform_description/meshes/wheel_roller2.dae" scale="0.001 0.001 0.001"/>
      </geometry>
    </collision>
    <inertial>
      <origin rpy="0 0 0" xyz="-0.002 0 0"/>
      <mass value="0.3"/>
      <inertia ixx="0.00024000" ixy="0.0" ixz="0.0" iyy="0.00076000" iyz="0.0" izz="0.00076000"/>
    </inertial>
    <surface>
      <friction>
        <ode>
          <mu1>10.2</mu1>
          <mu2>10.2</mu2>
          <kp>1e15</kp>
          <kd>1e13</kd>
        </ode>
      </friction>
      <bounce>
        <restitution_coefficient>0.01</restitution_coefficient>
        <threshold>0</threshold>
      </bounce>
      <contact>
        <ode>
          <max_vel>100</max_vel>
        </ode>
      </contact>
    </surface>
  </link>
  <joint name="right_front_roller_1_5_joint" type="continuous">
    <origin rpy="-0.5978938662841263 0.6907055756402474 0.4093711270983411" xyz="0 -0.036302738594392175 -0.017482477500263768"/>
    <axis xyz="1 0 0"/>
    <parent link="right_front_mecanum_wheel_link"/>
    <child link="right_front_roller_1_5_link"/>
    <!-- <safety_controller k_velocity="10.0" /> -->
    <dynamics damping="0.001" friction="0.0001"/>
  </joint>
  <transmission name="right_front_roller_1_5_trans">
    <type>transmission_interface/SimpleTransmission</type>
    <joint name="right_front_roller_1_5_joint">
      <hardwareInterface>hardware_interface/EffortJointInterface</hardwareInterface>
    </joint>
    <actuator name="right_front_roller_1_5_motor">
      <hardwareInterface>hardware_interface/EffortJointInterface</hardwareInterface>
      <mechanismReduction>1</mechanismReduction>
    </actuator>
  </transmission>
  <!-- <gazebo reference="${joint_name}_link">
        <selfCollide>0</selfCollide>
        <kp>1000000</kp>
        <kd>100</kd>
      </gazebo> -->
  <link name="right_front_roller_1_4_link">
    <visual>
      <origin rpy="0 0 0" xyz="-0.002 0 0"/>
      <geometry>
        <mesh filename="package://omnibot_platform_description/meshes/wheel_roller2.dae" scale="0.001 0.001 0.001"/>
      </geometry>
    </visual>
    <collision>
      <origin rpy="0 0 0" xyz="-0.002 0 0"/>
      <geometry>
        <mesh filename="package://omnibot_platform_description/meshes/wheel_roller2.dae" scale="0.001 0.001 0.001"/>
      </geometry>
    </collision>
    <inertial>
      <origin rpy="0 0 0" xyz="-0.002 0 0"/>
      <mass value="0.3"/>
      <inertia ixx="0.00024000" ixy="0.0" ixz="0.0" iyy="0.00076000" iyz="0.0" izz="0.00076000"/>
    </inertial>
    <surface>
      <friction>
        <ode>
          <mu1>10.2</mu1>
          <mu2>10.2</mu2>
          <kp>1e15</kp>
          <kd>1e13</kd>
        </ode>
      </friction>
      <bounce>
        <restitution_coefficient>0.01</restitution_coefficient>
        <threshold>0</threshold>
      </bounce>
      <contact>
        <ode>
          <max_vel>100</max_vel>
        </ode>
      </contact>
    </surface>
  </link>
  <joint name="right_front_roller_1_4_joint" type="continuous">
    <origin rpy="0.5978938662841266 0.6907055756402473 -0.4093711270983413" xyz="0 -0.036302738594392175 0.017482477500263775"/>
    <axis xyz="1 0 0"/>
    <parent link="right_front_mecanum_wheel_link"/>
    <child link="right_front_roller_1_4_link"/>
    <!-- <safety_controller k_velocity="10.0" /> -->
    <dynamics damping="0.001" friction="0.0001"/>
  </joint>
  <transmission name="right_front_roller_1_4_trans">
    <type>transmission_interface/SimpleTransmission</type>
    <joint name="right_front_roller_1_4_joint">
      <hardwareInterface>hardware_interface/EffortJointInterface</hardwareInterface>
    </joint>
    <actuator name="right_front_roller_1_4_motor">
      <hardwareInterface>hardware_interface/EffortJointInterface</hardwareInterface>
      <mechanismReduction>1</mechanismReduction>
    </actuator>
  </transmission>
  <!-- <gazebo reference="${joint_name}_link">
        <selfCollide>0</selfCollide>
        <kp>1000000</kp>
        <kd>100</kd>
      </gazebo> -->
  <link name="right_front_roller_1_3_link">
    <visual>
      <origin rpy="0 0 0" xyz="-0.002 0 0"/>
      <geometry>
        <mesh filename="package://omnibot_platform_description/meshes/wheel_roller2.dae" scale="0.001 0.001 0.001"/>
      </geometry>
    </visual>
    <collision>
      <origin rpy="0 0 0" xyz="-0.002 0 0"/>
      <geometry>
        <mesh filename="package://omnibot_platform_description/meshes/wheel_roller2.dae" scale="0.001 0.001 0.001"/>
      </geometry>
    </collision>
    <inertial>
      <origin rpy="0 0 0" xyz="-0.002 0 0"/>
      <mass value="0.3"/>
      <inertia ixx="0.00024000" ixy="0.0" ixz="0.0" iyy="0.00076000" iyz="0.0" izz="0.00076000"/>
    </inertial>
    <surface>
      <friction>
        <ode>
          <mu1>10.2</mu1>
          <mu2>10.2</mu2>
          <kp>1e15</kp>
          <kd>1e13</kd>
        </ode>
      </friction>
      <bounce>
        <restitution_coefficient>0.01</restitution_coefficient>
        <threshold>0</threshold>
      </bounce>
      <contact>
        <ode>
          <max_vel>100</max_vel>
        </ode>
      </contact>
    </surface>
  </link>
  <joint name="right_front_roller_1_3_joint" type="continuous">
    <origin rpy="1.4107836102355866 0.15800265975965203 -0.7727036539648157" xyz="0 -0.008966035991901775 0.03928277036554222"/>
    <axis xyz="1 0 0"/>
    <parent link="right_front_mecanum_wheel_link"/>
    <child link="right_front_roller_1_3_link"/>
    <!-- <safety_controller k_velocity="10.0" /> -->
    <dynamics damping="0.001" friction="0.0001"/>
  </joint>
  <transmission name="right_front_roller_1_3_trans">
    <type>transmission_interface/SimpleTransmission</type>
    <joint name="right_front_roller_1_3_joint">
      <hardwareInterface>hardware_interface/EffortJointInterface</hardwareInterface>
    </joint>
    <actuator name="right_front_roller_1_3_motor">
      <hardwareInterface>hardware_interface/EffortJointInterface</hardwareInterface>
      <mechanismReduction>1</mechanismReduction>
    </actuator>
  </transmission>
  <!-- <gazebo reference="${joint_name}_link">
        <selfCollide>0</selfCollide>
        <kp>1000000</kp>
        <kd>100</kd>
      </gazebo> -->
  <link name="right_front_roller_1_2_link">
    <visual>
      <origin rpy="0 0 0" xyz="-0.002 0 0"/>
      <geometry>
        <mesh filename="package://omnibot_platform_description/meshes/wheel_roller2.dae" scale="0.001 0.001 0.001"/>
      </geometry>
    </visual>
    <collision>
      <origin rpy="0 0 0" xyz="-0.002 0 0"/>
      <geometry>
        <mesh filename="package://omnibot_platform_description/meshes/wheel_roller2.dae" scale="0.001 0.001 0.001"/>
      </geometry>
    </collision>
    <inertial>
      <origin rpy="0 0 0" xyz="-0.002 0 0"/>
      <mass value="0.3"/>
      <inertia ixx="0.00024000" ixy="0.0" ixz="0.0" iyy="0.00076000" iyz="0.0" izz="0.00076000"/>
    </inertial>
    <surface>
      <friction>
        <ode>
          <mu1>10.2</mu1>
          <mu2>10.2</mu2>
          <kp>1e15</kp>
          <kd>1e13</kd>
        </ode>
      </friction>
      <bounce>
        <restitution_coefficient>0.01</restitution_coefficient>
        <threshold>0</threshold>
      </bounce>
      <contact>
        <ode>
          <max_vel>100</max_vel>
        </ode>
      </contact>
    </surface>
  </link>
  <joint name="right_front_roller_1_2_joint" type="continuous">
    <origin rpy="-1.0573448805303243 -0.4565720337917213 -0.6635639812413234" xyz="0 0.025122274586293954 0.031502335923084324"/>
    <axis xyz="1 0 0"/>
    <parent link="right_front_mecanum_wheel_link"/>
    <child link="right_front_roller_1_2_link"/>
    <!-- <safety_controller k_velocity="10.0" /> -->
    <dynamics damping="0.001" friction="0.0001"/>
  </joint>
  <transmission name="right_front_roller_1_2_trans">
    <type>transmission_interface/SimpleTransmission</type>
    <joint name="right_front_roller_1_2_joint">
      <hardwareInterface>hardware_interface/EffortJointInterface</hardwareInterface>
    </joint>
    <actuator name="right_front_roller_1_2_motor">
      <hardwareInterface>hardware_interface/EffortJointInterface</hardwareInterface>
      <mechanismReduction>1</mechanismReduction>
    </actuator>
  </transmission>
  <!-- <gazebo reference="${joint_name}_link">
        <selfCollide>0</selfCollide>
        <kp>1000000</kp>
        <kd>100</kd>
      </gazebo> -->
  <link name="right_front_roller_1_1_link">
    <visual>
      <origin rpy="0 0 0" xyz="-0.002 0 0"/>
      <geometry>
        <mesh filename="package://omnibot_platform_description/meshes/wheel_roller2.dae" scale="0.001 0.001 0.001"/>
      </geometry>
    </visual>
    <collision>
      <origin rpy="0 0 0" xyz="-0.002 0 0"/>
      <geometry>
        <mesh filename="package://omnibot_platform_description/meshes/wheel_roller2.dae" scale="0.001 0.001 0.001"/>
      </geometry>
    </collision>
    <inertial>
      <origin rpy="0 0 0" xyz="-0.002 0 0"/>
      <mass value="0.3"/>
      <inertia ixx="0.00024000" ixy="0.0" ixz="0.0" iyy="0.00076000" iyz="0.0" izz="0.00076000"/>
    </inertial>
    <surface>
      <friction>
        <ode>
          <mu1>10.2</mu1>
          <mu2>10.2</mu2>
          <kp>1e15</kp>
          <kd>1e13</kd>
        </ode>
      </friction>
      <bounce>
        <restitution_coefficient>0.01</restitution_coefficient>
        <threshold>0</threshold>
      </bounce>
      <contact>
        <ode>
          <max_vel>100</max_vel>
        </ode>
      </contact>
    </surface>
  </link>
  <joint name="right_front_roller_1_1_joint" type="continuous">
    <origin rpy="-0.0 -0.7853981633974482 -0.0" xyz="0 0.040293 0.0"/>
    <axis xyz="1 0 0"/>
    <parent link="right_front_mecanum_wheel_link"/>
    <child link="right_front_roller_1_1_link"/>
    <!-- <safety_controller k_velocity="10.0" /> -->
    <dynamics damping="0.001" friction="0.0001"/>
  </joint>
  <transmission name="right_front_roller_1_1_trans">
    <type>transmission_interface/SimpleTransmission</type>
    <joint name="right_front_roller_1_1_joint">
      <hardwareInterface>hardware_interface/EffortJointInterface</hardwareInterface>
    </joint>
    <actuator name="right_front_roller_1_1_motor">
      <hardwareInterface>hardware_interface/EffortJointInterface</hardwareInterface>
      <mechanismReduction>1</mechanismReduction>
    </actuator>
  </transmission>
  <!-- <gazebo reference="${joint_name}_link">
        <selfCollide>0</selfCollide>
        <kp>1000000</kp>
        <kd>100</kd>
      </gazebo> -->
  <link name="right_front_roller_2_7_link">
    <visual>
      <origin rpy="0 0 0" xyz="-0.002 0 0"/>
      <geometry>
        <mesh filename="package://omnibot_platform_description/meshes/wheel_roller2.dae" scale="0.001 0.001 0.001"/>
      </geometry>
    </visual>
    <collision>
      <origin rpy="0 0 0" xyz="-0.002 0 0"/>
      <geometry>
        <mesh filename="package://omnibot_platform_description/meshes/wheel_roller2.dae" scale="0.001 0.001 0.001"/>
      </geometry>
    </collision>
    <inertial>
      <origin rpy="0 0 0" xyz="-0.002 0 0"/>
      <mass value="0.3"/>
      <inertia ixx="0.00024000" ixy="0.0" ixz="0.0" iyy="0.00076000" iyz="0.0" izz="0.00076000"/>
    </inertial>
    <surface>
      <friction>
        <ode>
          <mu1>10.2</mu1>
          <mu2>10.2</mu2>
          <kp>1e15</kp>
          <kd>1e13</kd>
        </ode>
      </friction>
      <bounce>
        <restitution_coefficient>0.01</restitution_coefficient>
        <threshold>0</threshold>
      </bounce>
      <contact>
        <ode>
          <max_vel>100</max_vel>
        </ode>
      </contact>
    </surface>
  </link>
  <joint name="right_front_roller_2_7_joint" type="continuous">
    <origin rpy="4.197344880530324 2.683427966208279 0.6635639812413235" xyz="0 0.025122274586293944 -0.03150233592308433"/>
    <axis xyz="1 0 0"/>
    <parent link="right_front_mecanum_wheel_link"/>
    <child link="right_front_roller_2_7_link"/>
    <!-- <safety_controller k_velocity="10.0" /> -->
    <dynamics damping="0.001" friction="0.0001"/>
  </joint>
  <transmission name="right_front_roller_2_7_trans">
    <type>transmission_interface/SimpleTransmission</type>
    <joint name="right_front_roller_2_7_joint">
      <hardwareInterface>hardware_interface/EffortJointInterface</hardwareInterface>
    </joint>
    <actuator name="right_front_roller_2_7_motor">
      <hardwareInterface>hardware_interface/EffortJointInterface</hardwareInterface>
      <mechanismReduction>1</mechanismReduction>
    </actuator>
  </transmission>
  <!-- <gazebo reference="${joint_name}_link">
        <selfCollide>0</selfCollide>
        <kp>1000000</kp>
        <kd>100</kd>
      </gazebo> -->
  <link name="right_front_roller_2_6_link">
    <visual>
      <origin rpy="0 0 0" xyz="-0.002 0 0"/>
      <geometry>
        <mesh filename="package://omnibot_platform_description/meshes/wheel_roller2.dae" scale="0.001 0.001 0.001"/>
      </geometry>
    </visual>
    <collision>
      <origin rpy="0 0 0" xyz="-0.002 0 0"/>
      <geometry>
        <mesh filename="package://omnibot_platform_description/meshes/wheel_roller2.dae" scale="0.001 0.001 0.001"/>
      </geometry>
    </collision>
    <inertial>
      <origin rpy="0 0 0" xyz="-0.002 0 0"/>
      <mass value="0.3"/>
      <inertia ixx="0.00024000" ixy="0.0" ixz="0.0" iyy="0.00076000" iyz="0.0" izz="0.00076000"/>
    </inertial>
    <surface>
      <friction>
        <ode>
          <mu1>10.2</mu1>
          <mu2>10.2</mu2>
          <kp>1e15</kp>
          <kd>1e13</kd>
        </ode>
      </friction>
      <bounce>
        <restitution_coefficient>0.01</restitution_coefficient>
        <threshold>0</threshold>
      </bounce>
      <contact>
        <ode>
          <max_vel>100</max_vel>
        </ode>
      </contact>
    </surface>
  </link>
  <joint name="right_front_roller_2_6_joint" type="continuous">
    <origin rpy="1.729216389764413 3.2980026597596517 0.7727036539648158" xyz="0 -0.008966035991901749 -0.03928277036554222"/>
    <axis xyz="1 0 0"/>
    <parent link="right_front_mecanum_wheel_link"/>
    <child link="right_front_roller_2_6_link"/>
    <!-- <safety_controller k_velocity="10.0" /> -->
    <dynamics damping="0.001" friction="0.0001"/>
  </joint>
  <transmission name="right_front_roller_2_6_trans">
    <type>transmission_interface/SimpleTransmission</type>
    <joint name="right_front_roller_2_6_joint">
      <hardwareInterface>hardware_interface/EffortJointInterface</hardwareInterface>
    </joint>
    <actuator name="right_front_roller_2_6_motor">
      <hardwareInterface>hardware_interface/EffortJointInterface</hardwareInterface>
      <mechanismReduction>1</mechanismReduction>
    </actuator>
  </transmission>
  <!-- <gazebo reference="${joint_name}_link">
        <selfCollide>0</selfCollide>
        <kp>1000000</kp>
        <kd>100</kd>
      </gazebo> -->
  <link name="right_front_roller_2_5_link">
    <visual>
      <origin rpy="0 0 0" xyz="-0.002 0 0"/>
      <geometry>
        <mesh filename="package://omnibot_platform_description/meshes/wheel_roller2.dae" scale="0.001 0.001 0.001"/>
      </geometry>
    </visual>
    <collision>
      <origin rpy="0 0 0" xyz="-0.002 0 0"/>
      <geometry>
        <mesh filename="package://omnibot_platform_description/meshes/wheel_roller2.dae" scale="0.001 0.001 0.001"/>
      </geometry>
    </collision>
    <inertial>
      <origin rpy="0 0 0" xyz="-0.002 0 0"/>
      <mass value="0.3"/>
      <inertia ixx="0.00024000" ixy="0.0" ixz="0.0" iyy="0.00076000" iyz="0.0" izz="0.00076000"/>
    </inertial>
    <surface>
      <friction>
        <ode>
          <mu1>10.2</mu1>
          <mu2>10.2</mu2>
          <kp>1e15</kp>
          <kd>1e13</kd>
        </ode>
      </friction>
      <bounce>
        <restitution_coefficient>0.01</restitution_coefficient>
        <threshold>0</threshold>
      </bounce>
      <contact>
        <ode>
          <max_vel>100</max_vel>
        </ode>
      </contact>
    </surface>
  </link>
  <joint name="right_front_roller_2_5_joint" type="continuous">
    <origin rpy="2.542106133715874 3.8307055756402475 0.4093711270983411" xyz="0 -0.036302738594392175 -0.017482477500263768"/>
    <axis xyz="1 0 0"/>
    <parent link="right_front_mecanum_wheel_link"/>
    <child link="right_front_roller_2_5_link"/>
    <!-- <safety_controller k_velocity="10.0" /> -->
    <dynamics damping="0.001" friction="0.0001"/>
  </joint>
  <transmission name="right_front_roller_2_5_trans">
    <type>transmission_interface/SimpleTransmission</type>
    <joint name="right_front_roller_2_5_joint">
      <hardwareInterface>hardware_interface/EffortJointInterface</hardwareInterface>
    </joint>
    <actuator name="right_front_roller_2_5_motor">
      <hardwareInterface>hardware_interface/EffortJointInterface</hardwareInterface>
      <mechanismReduction>1</mechanismReduction>
    </actuator>
  </transmission>
  <!-- <gazebo reference="${joint_name}_link">
        <selfCollide>0</selfCollide>
        <kp>1000000</kp>
        <kd>100</kd>
      </gazebo> -->
  <link name="right_front_roller_2_4_link">
    <visual>
      <origin rpy="0 0 0" xyz="-0.002 0 0"/>
      <geometry>
        <mesh filename="package://omnibot_platform_description/meshes/wheel_roller2.dae" scale="0.001 0.001 0.001"/>
      </geometry>
    </visual>
    <collision>
      <origin rpy="0 0 0" xyz="-0.002 0 0"/>
      <geometry>
        <mesh filename="package://omnibot_platform_description/meshes/wheel_roller2.dae" scale="0.001 0.001 0.001"/>
      </geometry>
    </collision>
    <inertial>
      <origin rpy="0 0 0" xyz="-0.002 0 0"/>
      <mass value="0.3"/>
      <inertia ixx="0.00024000" ixy="0.0" ixz="0.0" iyy="0.00076000" iyz="0.0" izz="0.00076000"/>
    </inertial>
    <surface>
      <friction>
        <ode>
          <mu1>10.2</mu1>
          <mu2>10.2</mu2>
          <kp>1e15</kp>
          <kd>1e13</kd>
        </ode>
      </friction>
      <bounce>
        <restitution_coefficient>0.01</restitution_coefficient>
        <threshold>0</threshold>
      </bounce>
      <contact>
        <ode>
          <max_vel>100</max_vel>
        </ode>
      </contact>
    </surface>
  </link>
  <joint name="right_front_roller_2_4_joint" type="continuous">
    <origin rpy="3.737893866284127 3.8307055756402475 -0.4093711270983413" xyz="0 -0.036302738594392175 0.017482477500263775"/>
    <axis xyz="1 0 0"/>
    <parent link="right_front_mecanum_wheel_link"/>
    <child link="right_front_roller_2_4_link"/>
    <!-- <safety_controller k_velocity="10.0" /> -->
    <dynamics damping="0.001" friction="0.0001"/>
  </joint>
  <transmission name="right_front_roller_2_4_trans">
    <type>transmission_interface/SimpleTransmission</type>
    <joint name="right_front_roller_2_4_joint">
      <hardwareInterface>hardware_interface/EffortJointInterface</hardwareInterface>
    </joint>
    <actuator name="right_front_roller_2_4_motor">
      <hardwareInterface>hardware_interface/EffortJointInterface</hardwareInterface>
      <mechanismReduction>1</mechanismReduction>
    </actuator>
  </transmission>
  <!-- <gazebo reference="${joint_name}_link">
        <selfCollide>0</selfCollide>
        <kp>1000000</kp>
        <kd>100</kd>
      </gazebo> -->
  <link name="right_front_roller_2_3_link">
    <visual>
      <origin rpy="0 0 0" xyz="-0.002 0 0"/>
      <geometry>
        <mesh filename="package://omnibot_platform_description/meshes/wheel_roller2.dae" scale="0.001 0.001 0.001"/>
      </geometry>
    </visual>
    <collision>
      <origin rpy="0 0 0" xyz="-0.002 0 0"/>
      <geometry>
        <mesh filename="package://omnibot_platform_description/meshes/wheel_roller2.dae" scale="0.001 0.001 0.001"/>
      </geometry>
    </collision>
    <inertial>
      <origin rpy="0 0 0" xyz="-0.002 0 0"/>
      <mass value="0.3"/>
      <inertia ixx="0.00024000" ixy="0.0" ixz="0.0" iyy="0.00076000" iyz="0.0" izz="0.00076000"/>
    </inertial>
    <surface>
      <friction>
        <ode>
          <mu1>10.2</mu1>
          <mu2>10.2</mu2>
          <kp>1e15</kp>
          <kd>1e13</kd>
        </ode>
      </friction>
      <bounce>
        <restitution_coefficient>0.01</restitution_coefficient>
        <threshold>0</threshold>
      </bounce>
      <contact>
        <ode>
          <max_vel>100</max_vel>
        </ode>
      </contact>
    </surface>
  </link>
  <joint name="right_front_roller_2_3_joint" type="continuous">
    <origin rpy="4.5507836102355865 3.298002659759652 -0.7727036539648157" xyz="0 -0.008966035991901775 0.03928277036554222"/>
    <axis xyz="1 0 0"/>
    <parent link="right_front_mecanum_wheel_link"/>
    <child link="right_front_roller_2_3_link"/>
    <!-- <safety_controller k_velocity="10.0" /> -->
    <dynamics damping="0.001" friction="0.0001"/>
  </joint>
  <transmission name="right_front_roller_2_3_trans">
    <type>transmission_interface/SimpleTransmission</type>
    <joint name="right_front_roller_2_3_joint">
      <hardwareInterface>hardware_interface/EffortJointInterface</hardwareInterface>
    </joint>
    <actuator name="right_front_roller_2_3_motor">
      <hardwareInterface>hardware_interface/EffortJointInterface</hardwareInterface>
      <mechanismReduction>1</mechanismReduction>
    </actuator>
  </transmission>
  <!-- <gazebo reference="${joint_name}_link">
        <selfCollide>0</selfCollide>
        <kp>1000000</kp>
        <kd>100</kd>
      </gazebo> -->
  <link name="right_front_roller_2_2_link">
    <visual>
      <origin rpy="0 0 0" xyz="-0.002 0 0"/>
      <geometry>
        <mesh filename="package://omnibot_platform_description/meshes/wheel_roller2.dae" scale="0.001 0.001 0.001"/>
      </geometry>
    </visual>
    <collision>
      <origin rpy="0 0 0" xyz="-0.002 0 0"/>
      <geometry>
        <mesh filename="package://omnibot_platform_description/meshes/wheel_roller2.dae" scale="0.001 0.001 0.001"/>
      </geometry>
    </collision>
    <inertial>
      <origin rpy="0 0 0" xyz="-0.002 0 0"/>
      <mass value="0.3"/>
      <inertia ixx="0.00024000" ixy="0.0" ixz="0.0" iyy="0.00076000" iyz="0.0" izz="0.00076000"/>
    </inertial>
    <surface>
      <friction>
        <ode>
          <mu1>10.2</mu1>
          <mu2>10.2</mu2>
          <kp>1e15</kp>
          <kd>1e13</kd>
        </ode>
      </friction>
      <bounce>
        <restitution_coefficient>0.01</restitution_coefficient>
        <threshold>0</threshold>
      </bounce>
      <contact>
        <ode>
          <max_vel>100</max_vel>
        </ode>
      </contact>
    </surface>
  </link>
  <joint name="right_front_roller_2_2_joint" type="continuous">
    <origin rpy="2.082655119469676 2.6834279662082787 -0.6635639812413234" xyz="0 0.025122274586293954 0.031502335923084324"/>
    <axis xyz="1 0 0"/>
    <parent link="right_front_mecanum_wheel_link"/>
    <child link="right_front_roller_2_2_link"/>
    <!-- <safety_controller k_velocity="10.0" /> -->
    <dynamics damping="0.001" friction="0.0001"/>
  </joint>
  <transmission name="right_front_roller_2_2_trans">
    <type>transmission_interface/SimpleTransmission</type>
    <joint name="right_front_roller_2_2_joint">
      <hardwareInterface>hardware_interface/EffortJointInterface</hardwareInterface>
    </joint>
    <actuator name="right_front_roller_2_2_motor">
      <hardwareInterface>hardware_interface/EffortJointInterface</hardwareInterface>
      <mechanismReduction>1</mechanismReduction>
    </actuator>
  </transmission>
  <!-- <gazebo reference="${joint_name}_link">
        <selfCollide>0</selfCollide>
        <kp>1000000</kp>
        <kd>100</kd>
      </gazebo> -->
  <link name="right_front_roller_2_1_link">
    <visual>
      <origin rpy="0 0 0" xyz="-0.002 0 0"/>
      <geometry>
        <mesh filename="package://omnibot_platform_description/meshes/wheel_roller2.dae" scale="0.001 0.001 0.001"/>
      </geometry>
    </visual>
    <collision>
      <origin rpy="0 0 0" xyz="-0.002 0 0"/>
      <geometry>
        <mesh filename="package://omnibot_platform_description/meshes/wheel_roller2.dae" scale="0.001 0.001 0.001"/>
      </geometry>
    </collision>
    <inertial>
      <origin rpy="0 0 0" xyz="-0.002 0 0"/>
      <mass value="0.3"/>
      <inertia ixx="0.00024000" ixy="0.0" ixz="0.0" iyy="0.00076000" iyz="0.0" izz="0.00076000"/>
    </inertial>
    <surface>
      <friction>
        <ode>
          <mu1>10.2</mu1>
          <mu2>10.2</mu2>
          <kp>1e15</kp>
          <kd>1e13</kd>
        </ode>
      </friction>
      <bounce>
        <restitution_coefficient>0.01</restitution_coefficient>
        <threshold>0</threshold>
      </bounce>
      <contact>
        <ode>
          <max_vel>100</max_vel>
        </ode>
      </contact>
    </surface>
  </link>
  <joint name="right_front_roller_2_1_joint" type="continuous">
    <origin rpy="3.14 2.354601836602552 -0.0" xyz="0 0.040293 0.0"/>
    <axis xyz="1 0 0"/>
    <parent link="right_front_mecanum_wheel_link"/>
    <child link="right_front_roller_2_1_link"/>
    <!-- <safety_controller k_velocity="10.0" /> -->
    <dynamics damping="0.001" friction="0.0001"/>
  </joint>
  <transmission name="right_front_roller_2_1_trans">
    <type>transmission_interface/SimpleTransmission</type>
    <joint name="right_front_roller_2_1_joint">
      <hardwareInterface>hardware_interface/EffortJointInterface</hardwareInterface>
    </joint>
    <actuator name="right_front_roller_2_1_motor">
      <hardwareInterface>hardware_interface/EffortJointInterface</hardwareInterface>
      <mechanismReduction>1</mechanismReduction>
    </actuator>
  </transmission>
  <!-- <gazebo reference="${joint_name}_link">
        <selfCollide>0</selfCollide>
        <kp>1000000</kp>
        <kd>100</kd>
      </gazebo> -->
  <transmission name="right_front_mecanum_trans">
    <type>transmission_interface/SimpleTransmission</type>
    <actuator name="right_front_mecanum_motor">
      <mechanicalReduction>1</mechanicalReduction>
    </actuator>
    <joint name="right_front_mecanum_joint">
      <hardwareInterface>hardware_interface/VelocityJointInterface</hardwareInterface>
    </joint>
  </transmission>
  <joint name="right_front_mecanum_joint" type="continuous">
    <origin rpy="0.0 0.0 1.57" xyz="0.168 -0.18805 0.0155"/>
    <parent link="base_link"/>
    <child link="right_front_mecanum_wheel_link"/>
    <axis xyz="1 0 0"/>
    <limit effort="1000.0" lower="-3.14" upper="3.14" velocity="100.0"/>
  </joint>
  <link name="left_back_mecanum_wheel_link">
    <visual>
      <origin rpy="0 0 -1.57" xyz="0 0 0"/>
      <geometry>
        <mesh filename="package://omnibot_platform_description/meshes/wheel_base.dae" scale="-0.001 0.001 0.001"/>
      </geometry>
    </visual>
    <collision>
      <origin rpy="0 0 -1.57" xyz="0 0 0"/>
      <geometry>
        <mesh filename="package://omnibot_platform_description/meshes/wheel_base.dae" scale="-0.001 0.001 0.001"/>
      </geometry>
    </collision>
    <inertial>
      <origin rpy="0 0 0" xyz="0 0 0"/>
      <mass value="0.25"/>
      <inertia ixx="0.0031" ixy="0" ixz="0" iyy="0.005" iyz="0" izz="0.0031"/>
    </inertial>
  </link>
  <joint name="left_back_adapter_connector_joint" type="fixed">
    <parent link="left_back_mecanum_wheel_link"/>
    <child link="left_back_mecanum_adapter_link"/>
    <origin rpy="0 0 -1.57" xyz="0 0 0"/>
  </joint>
  <link name="left_back_mecanum_adapter_link">
    <visual>
      <origin rpy="0 0 -1.57" xyz="0 0.035 0"/>
      <geometry>
        <mesh filename="package://omnibot_platform_description/meshes/adapter.dae" scale="-0.001 0.001 0.001"/>
      </geometry>
    </visual>
    <collision>
      <origin rpy="0 0 -1.57" xyz="0 0.035 0"/>
      <geometry>
        <mesh filename="package://omnibot_platform_description/meshes/adapter.dae" scale="-0.001 0.001 0.001"/>
      </geometry>
    </collision>
    <inertial>
      <origin rpy="0 0 0" xyz="0 0 0"/>
      <mass value="0.005"/>
      <inertia ixx="0.00001" ixy="0.0" ixz="0.0" iyy="0.00001" iyz="0.0" izz="0.00001"/>
    </inertial>
  </link>
  <gazebo reference="left_back_wheel_link">
    <mu1 value="0.6"/>
    <mu2 value="0.6"/>
    <kp value="10000000.0"/>
    <kd value="1.0"/>
    <fdir1 value="0 1 0"/>
  </gazebo>
  <link name="left_back_roller_1_7_link">
    <visual>
      <origin rpy="0 0 0" xyz="-0.002 0 0"/>
      <geometry>
        <mesh filename="package://omnibot_platform_description/meshes/wheel_roller2.dae" scale="0.001 0.001 0.001"/>
      </geometry>
    </visual>
    <collision>
      <origin rpy="0 0 0" xyz="-0.002 0 0"/>
      <geometry>
        <mesh filename="package://omnibot_platform_description/meshes/wheel_roller2.dae" scale="0.001 0.001 0.001"/>
      </geometry>
    </collision>
    <inertial>
      <origin rpy="0 0 0" xyz="-0.002 0 0"/>
      <mass value="0.3"/>
      <inertia ixx="0.00024000" ixy="0.0" ixz="0.0" iyy="0.00076000" iyz="0.0" izz="0.00076000"/>
    </inertial>
    <surface>
      <friction>
        <ode>
          <mu1>10.2</mu1>
          <mu2>10.2</mu2>
          <kp>1e15</kp>
          <kd>1e13</kd>
        </ode>
      </friction>
      <bounce>
        <restitution_coefficient>0.01</restitution_coefficient>
        <threshold>0</threshold>
      </bounce>
      <contact>
        <ode>
          <max_vel>100</max_vel>
        </ode>
      </contact>
    </surface>
  </link>
  <joint name="left_back_roller_1_7_joint" type="continuous">
    <origin rpy="1.0573448805303245 -0.4565720337917211 0.6635639812413235" xyz="0 0.025122274586293944 -0.03150233592308433"/>
    <axis xyz="1 0 0"/>
    <parent link="left_back_mecanum_wheel_link"/>
    <child link="left_back_roller_1_7_link"/>
    <!-- <safety_controller k_velocity="10.0" /> -->
    <dynamics damping="0.001" friction="0.0001"/>
  </joint>
  <transmission name="left_back_roller_1_7_trans">
    <type>transmission_interface/SimpleTransmission</type>
    <joint name="left_back_roller_1_7_joint">
      <hardwareInterface>hardware_interface/EffortJointInterface</hardwareInterface>
    </joint>
    <actuator name="left_back_roller_1_7_motor">
      <hardwareInterface>hardware_interface/EffortJointInterface</hardwareInterface>
      <mechanismReduction>1</mechanismReduction>
    </actuator>
  </transmission>
  <!-- <gazebo reference="${joint_name}_link">
        <selfCollide>0</selfCollide>
        <kp>1000000</kp>
        <kd>100</kd>
      </gazebo> -->
  <link name="left_back_roller_1_6_link">
    <visual>
      <origin rpy="0 0 0" xyz="-0.002 0 0"/>
      <geometry>
        <mesh filename="package://omnibot_platform_description/meshes/wheel_roller2.dae" scale="0.001 0.001 0.001"/>
      </geometry>
    </visual>
    <collision>
      <origin rpy="0 0 0" xyz="-0.002 0 0"/>
      <geometry>
        <mesh filename="package://omnibot_platform_description/meshes/wheel_roller2.dae" scale="0.001 0.001 0.001"/>
      </geometry>
    </collision>
    <inertial>
      <origin rpy="0 0 0" xyz="-0.002 0 0"/>
      <mass value="0.3"/>
      <inertia ixx="0.00024000" ixy="0.0" ixz="0.0" iyy="0.00076000" iyz="0.0" izz="0.00076000"/>
    </inertial>
    <surface>
      <friction>
        <ode>
          <mu1>10.2</mu1>
          <mu2>10.2</mu2>
          <kp>1e15</kp>
          <kd>1e13</kd>
        </ode>
      </friction>
      <bounce>
        <restitution_coefficient>0.01</restitution_coefficient>
        <threshold>0</threshold>
      </bounce>
      <contact>
        <ode>
          <max_vel>100</max_vel>
        </ode>
      </contact>
    </surface>
  </link>
  <joint name="left_back_roller_1_6_joint" type="continuous">
    <origin rpy="-1.410783610235587 0.15800265975965155 0.7727036539648158" xyz="0 -0.008966035991901749 -0.03928277036554222"/>
    <axis xyz="1 0 0"/>
    <parent link="left_back_mecanum_wheel_link"/>
    <child link="left_back_roller_1_6_link"/>
    <!-- <safety_controller k_velocity="10.0" /> -->
    <dynamics damping="0.001" friction="0.0001"/>
  </joint>
  <transmission name="left_back_roller_1_6_trans">
    <type>transmission_interface/SimpleTransmission</type>
    <joint name="left_back_roller_1_6_joint">
      <hardwareInterface>hardware_interface/EffortJointInterface</hardwareInterface>
    </joint>
    <actuator name="left_back_roller_1_6_motor">
      <hardwareInterface>hardware_interface/EffortJointInterface</hardwareInterface>
      <mechanismReduction>1</mechanismReduction>
    </actuator>
  </transmission>
  <!-- <gazebo reference="${joint_name}_link">
        <selfCollide>0</selfCollide>
        <kp>1000000</kp>
        <kd>100</kd>
      </gazebo> -->
  <link name="left_back_roller_1_5_link">
    <visual>
      <origin rpy="0 0 0" xyz="-0.002 0 0"/>
      <geometry>
        <mesh filename="package://omnibot_platform_description/meshes/wheel_roller2.dae" scale="0.001 0.001 0.001"/>
      </geometry>
    </visual>
    <collision>
      <origin rpy="0 0 0" xyz="-0.002 0 0"/>
      <geometry>
        <mesh filename="package://omnibot_platform_description/meshes/wheel_roller2.dae" scale="0.001 0.001 0.001"/>
      </geometry>
    </collision>
    <inertial>
      <origin rpy="0 0 0" xyz="-0.002 0 0"/>
      <mass value="0.3"/>
      <inertia ixx="0.00024000" ixy="0.0" ixz="0.0" iyy="0.00076000" iyz="0.0" izz="0.00076000"/>
    </inertial>
    <surface>
      <friction>
        <ode>
          <mu1>10.2</mu1>
          <mu2>10.2</mu2>
          <kp>1e15</kp>
          <kd>1e13</kd>
        </ode>
      </friction>
      <bounce>
        <restitution_coefficient>0.01</restitution_coefficient>
        <threshold>0</threshold>
      </bounce>
      <contact>
        <ode>
          <max_vel>100</max_vel>
        </ode>
      </contact>
    </surface>
  </link>
  <joint name="left_back_roller_1_5_joint" type="continuous">
    <origin rpy="-0.5978938662841263 0.6907055756402474 0.4093711270983411" xyz="0 -0.036302738594392175 -0.017482477500263768"/>
    <axis xyz="1 0 0"/>
    <parent link="left_back_mecanum_wheel_link"/>
    <child link="left_back_roller_1_5_link"/>
    <!-- <safety_controller k_velocity="10.0" /> -->
    <dynamics damping="0.001" friction="0.0001"/>
  </joint>
  <transmission name="left_back_roller_1_5_trans">
    <type>transmission_interface/SimpleTransmission</type>
    <joint name="left_back_roller_1_5_joint">
      <hardwareInterface>hardware_interface/EffortJointInterface</hardwareInterface>
    </joint>
    <actuator name="left_back_roller_1_5_motor">
      <hardwareInterface>hardware_interface/EffortJointInterface</hardwareInterface>
      <mechanismReduction>1</mechanismReduction>
    </actuator>
  </transmission>
  <!-- <gazebo reference="${joint_name}_link">
        <selfCollide>0</selfCollide>
        <kp>1000000</kp>
        <kd>100</kd>
      </gazebo> -->
  <link name="left_back_roller_1_4_link">
    <visual>
      <origin rpy="0 0 0" xyz="-0.002 0 0"/>
      <geometry>
        <mesh filename="package://omnibot_platform_description/meshes/wheel_roller2.dae" scale="0.001 0.001 0.001"/>
      </geometry>
    </visual>
    <collision>
      <origin rpy="0 0 0" xyz="-0.002 0 0"/>
      <geometry>
        <mesh filename="package://omnibot_platform_description/meshes/wheel_roller2.dae" scale="0.001 0.001 0.001"/>
      </geometry>
    </collision>
    <inertial>
      <origin rpy="0 0 0" xyz="-0.002 0 0"/>
      <mass value="0.3"/>
      <inertia ixx="0.00024000" ixy="0.0" ixz="0.0" iyy="0.00076000" iyz="0.0" izz="0.00076000"/>
    </inertial>
    <surface>
      <friction>
        <ode>
          <mu1>10.2</mu1>
          <mu2>10.2</mu2>
          <kp>1e15</kp>
          <kd>1e13</kd>
        </ode>
      </friction>
      <bounce>
        <restitution_coefficient>0.01</restitution_coefficient>
        <threshold>0</threshold>
      </bounce>
      <contact>
        <ode>
          <max_vel>100</max_vel>
        </ode>
      </contact>
    </surface>
  </link>
  <joint name="left_back_roller_1_4_joint" type="continuous">
    <origin rpy="0.5978938662841266 0.6907055756402473 -0.4093711270983413" xyz="0 -0.036302738594392175 0.017482477500263775"/>
    <axis xyz="1 0 0"/>
    <parent link="left_back_mecanum_wheel_link"/>
    <child link="left_back_roller_1_4_link"/>
    <!-- <safety_controller k_velocity="10.0" /> -->
    <dynamics damping="0.001" friction="0.0001"/>
  </joint>
  <transmission name="left_back_roller_1_4_trans">
    <type>transmission_interface/SimpleTransmission</type>
    <joint name="left_back_roller_1_4_joint">
      <hardwareInterface>hardware_interface/EffortJointInterface</hardwareInterface>
    </joint>
    <actuator name="left_back_roller_1_4_motor">
      <hardwareInterface>hardware_interface/EffortJointInterface</hardwareInterface>
      <mechanismReduction>1</mechanismReduction>
    </actuator>
  </transmission>
  <!-- <gazebo reference="${joint_name}_link">
        <selfCollide>0</selfCollide>
        <kp>1000000</kp>
        <kd>100</kd>
      </gazebo> -->
  <link name="left_back_roller_1_3_link">
    <visual>
      <origin rpy="0 0 0" xyz="-0.002 0 0"/>
      <geometry>
        <mesh filename="package://omnibot_platform_description/meshes/wheel_roller2.dae" scale="0.001 0.001 0.001"/>
      </geometry>
    </visual>
    <collision>
      <origin rpy="0 0 0" xyz="-0.002 0 0"/>
      <geometry>
        <mesh filename="package://omnibot_platform_description/meshes/wheel_roller2.dae" scale="0.001 0.001 0.001"/>
      </geometry>
    </collision>
    <inertial>
      <origin rpy="0 0 0" xyz="-0.002 0 0"/>
      <mass value="0.3"/>
      <inertia ixx="0.00024000" ixy="0.0" ixz="0.0" iyy="0.00076000" iyz="0.0" izz="0.00076000"/>
    </inertial>
    <surface>
      <friction>
        <ode>
          <mu1>10.2</mu1>
          <mu2>10.2</mu2>
          <kp>1e15</kp>
          <kd>1e13</kd>
        </ode>
      </friction>
      <bounce>
        <restitution_coefficient>0.01</restitution_coefficient>
        <threshold>0</threshold>
      </bounce>
      <contact>
        <ode>
          <max_vel>100</max_vel>
        </ode>
      </contact>
    </surface>
  </link>
  <joint name="left_back_roller_1_3_joint" type="continuous">
    <origin rpy="1.4107836102355866 0.15800265975965203 -0.7727036539648157" xyz="0 -0.008966035991901775 0.03928277036554222"/>
    <axis xyz="1 0 0"/>
    <parent link="left_back_mecanum_wheel_link"/>
    <child link="left_back_roller_1_3_link"/>
    <!-- <safety_controller k_velocity="10.0" /> -->
    <dynamics damping="0.001" friction="0.0001"/>
  </joint>
  <transmission name="left_back_roller_1_3_trans">
    <type>transmission_interface/SimpleTransmission</type>
    <joint name="left_back_roller_1_3_joint">
      <hardwareInterface>hardware_interface/EffortJointInterface</hardwareInterface>
    </joint>
    <actuator name="left_back_roller_1_3_motor">
      <hardwareInterface>hardware_interface/EffortJointInterface</hardwareInterface>
      <mechanismReduction>1</mechanismReduction>
    </actuator>
  </transmission>
  <!-- <gazebo reference="${joint_name}_link">
        <selfCollide>0</selfCollide>
        <kp>1000000</kp>
        <kd>100</kd>
      </gazebo> -->
  <link name="left_back_roller_1_2_link">
    <visual>
      <origin rpy="0 0 0" xyz="-0.002 0 0"/>
      <geometry>
        <mesh filename="package://omnibot_platform_description/meshes/wheel_roller2.dae" scale="0.001 0.001 0.001"/>
      </geometry>
    </visual>
    <collision>
      <origin rpy="0 0 0" xyz="-0.002 0 0"/>
      <geometry>
        <mesh filename="package://omnibot_platform_description/meshes/wheel_roller2.dae" scale="0.001 0.001 0.001"/>
      </geometry>
    </collision>
    <inertial>
      <origin rpy="0 0 0" xyz="-0.002 0 0"/>
      <mass value="0.3"/>
      <inertia ixx="0.00024000" ixy="0.0" ixz="0.0" iyy="0.00076000" iyz="0.0" izz="0.00076000"/>
    </inertial>
    <surface>
      <friction>
        <ode>
          <mu1>10.2</mu1>
          <mu2>10.2</mu2>
          <kp>1e15</kp>
          <kd>1e13</kd>
        </ode>
      </friction>
      <bounce>
        <restitution_coefficient>0.01</restitution_coefficient>
        <threshold>0</threshold>
      </bounce>
      <contact>
        <ode>
          <max_vel>100</max_vel>
        </ode>
      </contact>
    </surface>
  </link>
  <joint name="left_back_roller_1_2_joint" type="continuous">
    <origin rpy="-1.0573448805303243 -0.4565720337917213 -0.6635639812413234" xyz="0 0.025122274586293954 0.031502335923084324"/>
    <axis xyz="1 0 0"/>
    <parent link="left_back_mecanum_wheel_link"/>
    <child link="left_back_roller_1_2_link"/>
    <!-- <safety_controller k_velocity="10.0" /> -->
    <dynamics damping="0.001" friction="0.0001"/>
  </joint>
  <transmission name="left_back_roller_1_2_trans">
    <type>transmission_interface/SimpleTransmission</type>
    <joint name="left_back_roller_1_2_joint">
      <hardwareInterface>hardware_interface/EffortJointInterface</hardwareInterface>
    </joint>
    <actuator name="left_back_roller_1_2_motor">
      <hardwareInterface>hardware_interface/EffortJointInterface</hardwareInterface>
      <mechanismReduction>1</mechanismReduction>
    </actuator>
  </transmission>
  <!-- <gazebo reference="${joint_name}_link">
        <selfCollide>0</selfCollide>
        <kp>1000000</kp>
        <kd>100</kd>
      </gazebo> -->
  <link name="left_back_roller_1_1_link">
    <visual>
      <origin rpy="0 0 0" xyz="-0.002 0 0"/>
      <geometry>
        <mesh filename="package://omnibot_platform_description/meshes/wheel_roller2.dae" scale="0.001 0.001 0.001"/>
      </geometry>
    </visual>
    <collision>
      <origin rpy="0 0 0" xyz="-0.002 0 0"/>
      <geometry>
        <mesh filename="package://omnibot_platform_description/meshes/wheel_roller2.dae" scale="0.001 0.001 0.001"/>
      </geometry>
    </collision>
    <inertial>
      <origin rpy="0 0 0" xyz="-0.002 0 0"/>
      <mass value="0.3"/>
      <inertia ixx="0.00024000" ixy="0.0" ixz="0.0" iyy="0.00076000" iyz="0.0" izz="0.00076000"/>
    </inertial>
    <surface>
      <friction>
        <ode>
          <mu1>10.2</mu1>
          <mu2>10.2</mu2>
          <kp>1e15</kp>
          <kd>1e13</kd>
        </ode>
      </friction>
      <bounce>
        <restitution_coefficient>0.01</restitution_coefficient>
        <threshold>0</threshold>
      </bounce>
      <contact>
        <ode>
          <max_vel>100</max_vel>
        </ode>
      </contact>
    </surface>
  </link>
  <joint name="left_back_roller_1_1_joint" type="continuous">
    <origin rpy="-0.0 -0.7853981633974482 -0.0" xyz="0 0.040293 0.0"/>
    <axis xyz="1 0 0"/>
    <parent link="left_back_mecanum_wheel_link"/>
    <child link="left_back_roller_1_1_link"/>
    <!-- <safety_controller k_velocity="10.0" /> -->
    <dynamics damping="0.001" friction="0.0001"/>
  </joint>
  <transmission name="left_back_roller_1_1_trans">
    <type>transmission_interface/SimpleTransmission</type>
    <joint name="left_back_roller_1_1_joint">
      <hardwareInterface>hardware_interface/EffortJointInterface</hardwareInterface>
    </joint>
    <actuator name="left_back_roller_1_1_motor">
      <hardwareInterface>hardware_interface/EffortJointInterface</hardwareInterface>
      <mechanismReduction>1</mechanismReduction>
    </actuator>
  </transmission>
  <!-- <gazebo reference="${joint_name}_link">
        <selfCollide>0</selfCollide>
        <kp>1000000</kp>
        <kd>100</kd>
      </gazebo> -->
  <link name="left_back_roller_2_7_link">
    <visual>
      <origin rpy="0 0 0" xyz="-0.002 0 0"/>
      <geometry>
        <mesh filename="package://omnibot_platform_description/meshes/wheel_roller2.dae" scale="0.001 0.001 0.001"/>
      </geometry>
    </visual>
    <collision>
      <origin rpy="0 0 0" xyz="-0.002 0 0"/>
      <geometry>
        <mesh filename="package://omnibot_platform_description/meshes/wheel_roller2.dae" scale="0.001 0.001 0.001"/>
      </geometry>
    </collision>
    <inertial>
      <origin rpy="0 0 0" xyz="-0.002 0 0"/>
      <mass value="0.3"/>
      <inertia ixx="0.00024000" ixy="0.0" ixz="0.0" iyy="0.00076000" iyz="0.0" izz="0.00076000"/>
    </inertial>
    <surface>
      <friction>
        <ode>
          <mu1>10.2</mu1>
          <mu2>10.2</mu2>
          <kp>1e15</kp>
          <kd>1e13</kd>
        </ode>
      </friction>
      <bounce>
        <restitution_coefficient>0.01</restitution_coefficient>
        <threshold>0</threshold>
      </bounce>
      <contact>
        <ode>
          <max_vel>100</max_vel>
        </ode>
      </contact>
    </surface>
  </link>
  <joint name="left_back_roller_2_7_joint" type="continuous">
    <origin rpy="4.197344880530324 2.683427966208279 0.6635639812413235" xyz="0 0.025122274586293944 -0.03150233592308433"/>
    <axis xyz="1 0 0"/>
    <parent link="left_back_mecanum_wheel_link"/>
    <child link="left_back_roller_2_7_link"/>
    <!-- <safety_controller k_velocity="10.0" /> -->
    <dynamics damping="0.001" friction="0.0001"/>
  </joint>
  <transmission name="left_back_roller_2_7_trans">
    <type>transmission_interface/SimpleTransmission</type>
    <joint name="left_back_roller_2_7_joint">
      <hardwareInterface>hardware_interface/EffortJointInterface</hardwareInterface>
    </joint>
    <actuator name="left_back_roller_2_7_motor">
      <hardwareInterface>hardware_interface/EffortJointInterface</hardwareInterface>
      <mechanismReduction>1</mechanismReduction>
    </actuator>
  </transmission>
  <!-- <gazebo reference="${joint_name}_link">
        <selfCollide>0</selfCollide>
        <kp>1000000</kp>
        <kd>100</kd>
      </gazebo> -->
  <link name="left_back_roller_2_6_link">
    <visual>
      <origin rpy="0 0 0" xyz="-0.002 0 0"/>
      <geometry>
        <mesh filename="package://omnibot_platform_description/meshes/wheel_roller2.dae" scale="0.001 0.001 0.001"/>
      </geometry>
    </visual>
    <collision>
      <origin rpy="0 0 0" xyz="-0.002 0 0"/>
      <geometry>
        <mesh filename="package://omnibot_platform_description/meshes/wheel_roller2.dae" scale="0.001 0.001 0.001"/>
      </geometry>
    </collision>
    <inertial>
      <origin rpy="0 0 0" xyz="-0.002 0 0"/>
      <mass value="0.3"/>
      <inertia ixx="0.00024000" ixy="0.0" ixz="0.0" iyy="0.00076000" iyz="0.0" izz="0.00076000"/>
    </inertial>
    <surface>
      <friction>
        <ode>
          <mu1>10.2</mu1>
          <mu2>10.2</mu2>
          <kp>1e15</kp>
          <kd>1e13</kd>
        </ode>
      </friction>
      <bounce>
        <restitution_coefficient>0.01</restitution_coefficient>
        <threshold>0</threshold>
      </bounce>
      <contact>
        <ode>
          <max_vel>100</max_vel>
        </ode>
      </contact>
    </surface>
  </link>
  <joint name="left_back_roller_2_6_joint" type="continuous">
    <origin rpy="1.729216389764413 3.2980026597596517 0.7727036539648158" xyz="0 -0.008966035991901749 -0.03928277036554222"/>
    <axis xyz="1 0 0"/>
    <parent link="left_back_mecanum_wheel_link"/>
    <child link="left_back_roller_2_6_link"/>
    <!-- <safety_controller k_velocity="10.0" /> -->
    <dynamics damping="0.001" friction="0.0001"/>
  </joint>
  <transmission name="left_back_roller_2_6_trans">
    <type>transmission_interface/SimpleTransmission</type>
    <joint name="left_back_roller_2_6_joint">
      <hardwareInterface>hardware_interface/EffortJointInterface</hardwareInterface>
    </joint>
    <actuator name="left_back_roller_2_6_motor">
      <hardwareInterface>hardware_interface/EffortJointInterface</hardwareInterface>
      <mechanismReduction>1</mechanismReduction>
    </actuator>
  </transmission>
  <!-- <gazebo reference="${joint_name}_link">
        <selfCollide>0</selfCollide>
        <kp>1000000</kp>
        <kd>100</kd>
      </gazebo> -->
  <link name="left_back_roller_2_5_link">
    <visual>
      <origin rpy="0 0 0" xyz="-0.002 0 0"/>
      <geometry>
        <mesh filename="package://omnibot_platform_description/meshes/wheel_roller2.dae" scale="0.001 0.001 0.001"/>
      </geometry>
    </visual>
    <collision>
      <origin rpy="0 0 0" xyz="-0.002 0 0"/>
      <geometry>
        <mesh filename="package://omnibot_platform_description/meshes/wheel_roller2.dae" scale="0.001 0.001 0.001"/>
      </geometry>
    </collision>
    <inertial>
      <origin rpy="0 0 0" xyz="-0.002 0 0"/>
      <mass value="0.3"/>
      <inertia ixx="0.00024000" ixy="0.0" ixz="0.0" iyy="0.00076000" iyz="0.0" izz="0.00076000"/>
    </inertial>
    <surface>
      <friction>
        <ode>
          <mu1>10.2</mu1>
          <mu2>10.2</mu2>
          <kp>1e15</kp>
          <kd>1e13</kd>
        </ode>
      </friction>
      <bounce>
        <restitution_coefficient>0.01</restitution_coefficient>
        <threshold>0</threshold>
      </bounce>
      <contact>
        <ode>
          <max_vel>100</max_vel>
        </ode>
      </contact>
    </surface>
  </link>
  <joint name="left_back_roller_2_5_joint" type="continuous">
    <origin rpy="2.542106133715874 3.8307055756402475 0.4093711270983411" xyz="0 -0.036302738594392175 -0.017482477500263768"/>
    <axis xyz="1 0 0"/>
    <parent link="left_back_mecanum_wheel_link"/>
    <child link="left_back_roller_2_5_link"/>
    <!-- <safety_controller k_velocity="10.0" /> -->
    <dynamics damping="0.001" friction="0.0001"/>
  </joint>
  <transmission name="left_back_roller_2_5_trans">
    <type>transmission_interface/SimpleTransmission</type>
    <joint name="left_back_roller_2_5_joint">
      <hardwareInterface>hardware_interface/EffortJointInterface</hardwareInterface>
    </joint>
    <actuator name="left_back_roller_2_5_motor">
      <hardwareInterface>hardware_interface/EffortJointInterface</hardwareInterface>
      <mechanismReduction>1</mechanismReduction>
    </actuator>
  </transmission>
  <!-- <gazebo reference="${joint_name}_link">
        <selfCollide>0</selfCollide>
        <kp>1000000</kp>
        <kd>100</kd>
      </gazebo> -->
  <link name="left_back_roller_2_4_link">
    <visual>
      <origin rpy="0 0 0" xyz="-0.002 0 0"/>
      <geometry>
        <mesh filename="package://omnibot_platform_description/meshes/wheel_roller2.dae" scale="0.001 0.001 0.001"/>
      </geometry>
    </visual>
    <collision>
      <origin rpy="0 0 0" xyz="-0.002 0 0"/>
      <geometry>
        <mesh filename="package://omnibot_platform_description/meshes/wheel_roller2.dae" scale="0.001 0.001 0.001"/>
      </geometry>
    </collision>
    <inertial>
      <origin rpy="0 0 0" xyz="-0.002 0 0"/>
      <mass value="0.3"/>
      <inertia ixx="0.00024000" ixy="0.0" ixz="0.0" iyy="0.00076000" iyz="0.0" izz="0.00076000"/>
    </inertial>
    <surface>
      <friction>
        <ode>
          <mu1>10.2</mu1>
          <mu2>10.2</mu2>
          <kp>1e15</kp>
          <kd>1e13</kd>
        </ode>
      </friction>
      <bounce>
        <restitution_coefficient>0.01</restitution_coefficient>
        <threshold>0</threshold>
      </bounce>
      <contact>
        <ode>
          <max_vel>100</max_vel>
        </ode>
      </contact>
    </surface>
  </link>
  <joint name="left_back_roller_2_4_joint" type="continuous">
    <origin rpy="3.737893866284127 3.8307055756402475 -0.4093711270983413" xyz="0 -0.036302738594392175 0.017482477500263775"/>
    <axis xyz="1 0 0"/>
    <parent link="left_back_mecanum_wheel_link"/>
    <child link="left_back_roller_2_4_link"/>
    <!-- <safety_controller k_velocity="10.0" /> -->
    <dynamics damping="0.001" friction="0.0001"/>
  </joint>
  <transmission name="left_back_roller_2_4_trans">
    <type>transmission_interface/SimpleTransmission</type>
    <joint name="left_back_roller_2_4_joint">
      <hardwareInterface>hardware_interface/EffortJointInterface</hardwareInterface>
    </joint>
    <actuator name="left_back_roller_2_4_motor">
      <hardwareInterface>hardware_interface/EffortJointInterface</hardwareInterface>
      <mechanismReduction>1</mechanismReduction>
    </actuator>
  </transmission>
  <!-- <gazebo reference="${joint_name}_link">
        <selfCollide>0</selfCollide>
        <kp>1000000</kp>
        <kd>100</kd>
      </gazebo> -->
  <link name="left_back_roller_2_3_link">
    <visual>
      <origin rpy="0 0 0" xyz="-0.002 0 0"/>
      <geometry>
        <mesh filename="package://omnibot_platform_description/meshes/wheel_roller2.dae" scale="0.001 0.001 0.001"/>
      </geometry>
    </visual>
    <collision>
      <origin rpy="0 0 0" xyz="-0.002 0 0"/>
      <geometry>
        <mesh filename="package://omnibot_platform_description/meshes/wheel_roller2.dae" scale="0.001 0.001 0.001"/>
      </geometry>
    </collision>
    <inertial>
      <origin rpy="0 0 0" xyz="-0.002 0 0"/>
      <mass value="0.3"/>
      <inertia ixx="0.00024000" ixy="0.0" ixz="0.0" iyy="0.00076000" iyz="0.0" izz="0.00076000"/>
    </inertial>
    <surface>
      <friction>
        <ode>
          <mu1>10.2</mu1>
          <mu2>10.2</mu2>
          <kp>1e15</kp>
          <kd>1e13</kd>
        </ode>
      </friction>
      <bounce>
        <restitution_coefficient>0.01</restitution_coefficient>
        <threshold>0</threshold>
      </bounce>
      <contact>
        <ode>
          <max_vel>100</max_vel>
        </ode>
      </contact>
    </surface>
  </link>
  <joint name="left_back_roller_2_3_joint" type="continuous">
    <origin rpy="4.5507836102355865 3.298002659759652 -0.7727036539648157" xyz="0 -0.008966035991901775 0.03928277036554222"/>
    <axis xyz="1 0 0"/>
    <parent link="left_back_mecanum_wheel_link"/>
    <child link="left_back_roller_2_3_link"/>
    <!-- <safety_controller k_velocity="10.0" /> -->
    <dynamics damping="0.001" friction="0.0001"/>
  </joint>
  <transmission name="left_back_roller_2_3_trans">
    <type>transmission_interface/SimpleTransmission</type>
    <joint name="left_back_roller_2_3_joint">
      <hardwareInterface>hardware_interface/EffortJointInterface</hardwareInterface>
    </joint>
    <actuator name="left_back_roller_2_3_motor">
      <hardwareInterface>hardware_interface/EffortJointInterface</hardwareInterface>
      <mechanismReduction>1</mechanismReduction>
    </actuator>
  </transmission>
  <!-- <gazebo reference="${joint_name}_link">
        <selfCollide>0</selfCollide>
        <kp>1000000</kp>
        <kd>100</kd>
      </gazebo> -->
  <link name="left_back_roller_2_2_link">
    <visual>
      <origin rpy="0 0 0" xyz="-0.002 0 0"/>
      <geometry>
        <mesh filename="package://omnibot_platform_description/meshes/wheel_roller2.dae" scale="0.001 0.001 0.001"/>
      </geometry>
    </visual>
    <collision>
      <origin rpy="0 0 0" xyz="-0.002 0 0"/>
      <geometry>
        <mesh filename="package://omnibot_platform_description/meshes/wheel_roller2.dae" scale="0.001 0.001 0.001"/>
      </geometry>
    </collision>
    <inertial>
      <origin rpy="0 0 0" xyz="-0.002 0 0"/>
      <mass value="0.3"/>
      <inertia ixx="0.00024000" ixy="0.0" ixz="0.0" iyy="0.00076000" iyz="0.0" izz="0.00076000"/>
    </inertial>
    <surface>
      <friction>
        <ode>
          <mu1>10.2</mu1>
          <mu2>10.2</mu2>
          <kp>1e15</kp>
          <kd>1e13</kd>
        </ode>
      </friction>
      <bounce>
        <restitution_coefficient>0.01</restitution_coefficient>
        <threshold>0</threshold>
      </bounce>
      <contact>
        <ode>
          <max_vel>100</max_vel>
        </ode>
      </contact>
    </surface>
  </link>
  <joint name="left_back_roller_2_2_joint" type="continuous">
    <origin rpy="2.082655119469676 2.6834279662082787 -0.6635639812413234" xyz="0 0.025122274586293954 0.031502335923084324"/>
    <axis xyz="1 0 0"/>
    <parent link="left_back_mecanum_wheel_link"/>
    <child link="left_back_roller_2_2_link"/>
    <!-- <safety_controller k_velocity="10.0" /> -->
    <dynamics damping="0.001" friction="0.0001"/>
  </joint>
  <transmission name="left_back_roller_2_2_trans">
    <type>transmission_interface/SimpleTransmission</type>
    <joint name="left_back_roller_2_2_joint">
      <hardwareInterface>hardware_interface/EffortJointInterface</hardwareInterface>
    </joint>
    <actuator name="left_back_roller_2_2_motor">
      <hardwareInterface>hardware_interface/EffortJointInterface</hardwareInterface>
      <mechanismReduction>1</mechanismReduction>
    </actuator>
  </transmission>
  <!-- <gazebo reference="${joint_name}_link">
        <selfCollide>0</selfCollide>
        <kp>1000000</kp>
        <kd>100</kd>
      </gazebo> -->
  <link name="left_back_roller_2_1_link">
    <visual>
      <origin rpy="0 0 0" xyz="-0.002 0 0"/>
      <geometry>
        <mesh filename="package://omnibot_platform_description/meshes/wheel_roller2.dae" scale="0.001 0.001 0.001"/>
      </geometry>
    </visual>
    <collision>
      <origin rpy="0 0 0" xyz="-0.002 0 0"/>
      <geometry>
        <mesh filename="package://omnibot_platform_description/meshes/wheel_roller2.dae" scale="0.001 0.001 0.001"/>
      </geometry>
    </collision>
    <inertial>
      <origin rpy="0 0 0" xyz="-0.002 0 0"/>
      <mass value="0.3"/>
      <inertia ixx="0.00024000" ixy="0.0" ixz="0.0" iyy="0.00076000" iyz="0.0" izz="0.00076000"/>
    </inertial>
    <surface>
      <friction>
        <ode>
          <mu1>10.2</mu1>
          <mu2>10.2</mu2>
          <kp>1e15</kp>
          <kd>1e13</kd>
        </ode>
      </friction>
      <bounce>
        <restitution_coefficient>0.01</restitution_coefficient>
        <threshold>0</threshold>
      </bounce>
      <contact>
        <ode>
          <max_vel>100</max_vel>
        </ode>
      </contact>
    </surface>
  </link>
  <joint name="left_back_roller_2_1_joint" type="continuous">
    <origin rpy="3.14 2.354601836602552 -0.0" xyz="0 0.040293 0.0"/>
    <axis xyz="1 0 0"/>
    <parent link="left_back_mecanum_wheel_link"/>
    <child link="left_back_roller_2_1_link"/>
    <!-- <safety_controller k_velocity="10.0" /> -->
    <dynamics damping="0.001" friction="0.0001"/>
  </joint>
  <transmission name="left_back_roller_2_1_trans">
    <type>transmission_interface/SimpleTransmission</type>
    <joint name="left_back_roller_2_1_joint">
      <hardwareInterface>hardware_interface/EffortJointInterface</hardwareInterface>
    </joint>
    <actuator name="left_back_roller_2_1_motor">
      <hardwareInterface>hardware_interface/EffortJointInterface</hardwareInterface>
      <mechanismReduction>1</mechanismReduction>
    </actuator>
  </transmission>
  <!-- <gazebo reference="${joint_name}_link">
        <selfCollide>0</selfCollide>
        <kp>1000000</kp>
        <kd>100</kd>
      </gazebo> -->
  <transmission name="left_back_mecanum_trans">
    <type>transmission_interface/SimpleTransmission</type>
    <actuator name="left_back_mecanum_motor">
      <mechanicalReduction>1</mechanicalReduction>
    </actuator>
    <joint name="left_back_mecanum_joint">
      <hardwareInterface>hardware_interface/VelocityJointInterface</hardwareInterface>
    </joint>
  </transmission>
  <joint name="left_back_mecanum_joint" type="continuous">
    <origin rpy="0.0 0.0 -1.57" xyz="-0.168 0.18805 0.0155"/>
    <parent link="base_link"/>
    <child link="left_back_mecanum_wheel_link"/>
    <axis xyz="1 0 0"/>
    <limit effort="1000.0" lower="-3.14" upper="3.14" velocity="100.0"/>
  </joint>
  <link name="right_back_mecanum_wheel_link">
    <visual>
      <origin rpy="0 0 1.57" xyz="0 0 0"/>
      <geometry>
        <mesh filename="package://omnibot_platform_description/meshes/wheel_base.dae" scale="0.001 0.001 0.001"/>
      </geometry>
    </visual>
    <collision>
      <origin rpy="0 0 1.57" xyz="0 0 0"/>
      <geometry>
        <mesh filename="package://omnibot_platform_description/meshes/wheel_base.dae" scale="0.001 0.001 0.001"/>
      </geometry>
    </collision>
    <inertial>
      <origin rpy="0 0 0" xyz="0 0 0"/>
      <mass value="0.25"/>
      <inertia ixx="0.0031" ixy="0" ixz="0" iyy="0.005" iyz="0" izz="0.0031"/>
    </inertial>
  </link>
  <joint name="right_back_adapter_connector_joint" type="fixed">
    <parent link="right_back_mecanum_wheel_link"/>
    <child link="right_back_mecanum_adapter_link"/>
    <origin rpy="0 0 1.57" xyz="0 0 0"/>
  </joint>
  <link name="right_back_mecanum_adapter_link">
    <visual>
      <origin rpy="0 0 1.57" xyz="0 0.035 0"/>
      <geometry>
        <mesh filename="package://omnibot_platform_description/meshes/adapter.dae" scale="0.001 0.001 0.001"/>
      </geometry>
    </visual>
    <collision>
      <origin rpy="0 0 1.57" xyz="0 0.035 0"/>
      <geometry>
        <mesh filename="package://omnibot_platform_description/meshes/adapter.dae" scale="0.001 0.001 0.001"/>
      </geometry>
    </collision>
    <inertial>
      <origin rpy="0 0 0" xyz="0 0 0"/>
      <mass value="0.005"/>
      <inertia ixx="0.00001" ixy="0.0" ixz="0.0" iyy="0.00001" iyz="0.0" izz="0.00001"/>
    </inertial>
  </link>
  <gazebo reference="right_back_wheel_link">
    <mu1 value="0.6"/>
    <mu2 value="0.6"/>
    <kp value="10000000.0"/>
    <kd value="1.0"/>
    <fdir1 value="0 1 0"/>
  </gazebo>
  <link name="right_back_roller_1_7_link">
    <visual>
      <origin rpy="0 0 0" xyz="-0.002 0 0"/>
      <geometry>
        <mesh filename="package://omnibot_platform_description/meshes/wheel_roller2.dae" scale="0.001 0.001 0.001"/>
      </geometry>
    </visual>
    <collision>
      <origin rpy="0 0 0" xyz="-0.002 0 0"/>
      <geometry>
        <mesh filename="package://omnibot_platform_description/meshes/wheel_roller2.dae" scale="0.001 0.001 0.001"/>
      </geometry>
    </collision>
    <inertial>
      <origin rpy="0 0 0" xyz="-0.002 0 0"/>
      <mass value="0.3"/>
      <inertia ixx="0.00024000" ixy="0.0" ixz="0.0" iyy="0.00076000" iyz="0.0" izz="0.00076000"/>
    </inertial>
    <surface>
      <friction>
        <ode>
          <mu1>10.2</mu1>
          <mu2>10.2</mu2>
          <kp>1e15</kp>
          <kd>1e13</kd>
        </ode>
      </friction>
      <bounce>
        <restitution_coefficient>0.01</restitution_coefficient>
        <threshold>0</threshold>
      </bounce>
      <contact>
        <ode>
          <max_vel>100</max_vel>
        </ode>
      </contact>
    </surface>
  </link>
  <joint name="right_back_roller_1_7_joint" type="continuous">
    <origin rpy="1.0573448805303245 0.4565720337917211 -0.6635639812413235" xyz="0 0.025122274586293944 -0.03149920859715446"/>
    <axis xyz="1 0 0"/>
    <parent link="right_back_mecanum_wheel_link"/>
    <child link="right_back_roller_1_7_link"/>
    <!-- <safety_controller k_velocity="10.0" /> -->
    <dynamics damping="0.001" friction="0.0001"/>
  </joint>
  <transmission name="right_back_roller_1_7_trans">
    <type>transmission_interface/SimpleTransmission</type>
    <joint name="right_back_roller_1_7_joint">
      <hardwareInterface>hardware_interface/EffortJointInterface</hardwareInterface>
    </joint>
    <actuator name="right_back_roller_1_7_motor">
      <hardwareInterface>hardware_interface/EffortJointInterface</hardwareInterface>
      <mechanismReduction>1</mechanismReduction>
    </actuator>
  </transmission>
  <!-- <gazebo reference="${joint_name}_link">
        <selfCollide>0</selfCollide>
        <kp>1000000</kp>
        <kd>100</kd>
      </gazebo> -->
  <link name="right_back_roller_1_6_link">
    <visual>
      <origin rpy="0 0 0" xyz="-0.002 0 0"/>
      <geometry>
        <mesh filename="package://omnibot_platform_description/meshes/wheel_roller2.dae" scale="0.001 0.001 0.001"/>
      </geometry>
    </visual>
    <collision>
      <origin rpy="0 0 0" xyz="-0.002 0 0"/>
      <geometry>
        <mesh filename="package://omnibot_platform_description/meshes/wheel_roller2.dae" scale="0.001 0.001 0.001"/>
      </geometry>
    </collision>
    <inertial>
      <origin rpy="0 0 0" xyz="-0.002 0 0"/>
      <mass value="0.3"/>
      <inertia ixx="0.00024000" ixy="0.0" ixz="0.0" iyy="0.00076000" iyz="0.0" izz="0.00076000"/>
    </inertial>
    <surface>
      <friction>
        <ode>
          <mu1>10.2</mu1>
          <mu2>10.2</mu2>
          <kp>1e15</kp>
          <kd>1e13</kd>
        </ode>
      </friction>
      <bounce>
        <restitution_coefficient>0.01</restitution_coefficient>
        <threshold>0</threshold>
      </bounce>
      <contact>
        <ode>
          <max_vel>100</max_vel>
        </ode>
      </contact>
    </surface>
  </link>
  <joint name="right_back_roller_1_6_joint" type="continuous">
    <origin rpy="-1.410783610235587 -0.15800265975965155 -0.7727036539648158" xyz="0 -0.008966035991901749 -0.039278870653893495"/>
    <axis xyz="1 0 0"/>
    <parent link="right_back_mecanum_wheel_link"/>
    <child link="right_back_roller_1_6_link"/>
    <!-- <safety_controller k_velocity="10.0" /> -->
    <dynamics damping="0.001" friction="0.0001"/>
  </joint>
  <transmission name="right_back_roller_1_6_trans">
    <type>transmission_interface/SimpleTransmission</type>
    <joint name="right_back_roller_1_6_joint">
      <hardwareInterface>hardware_interface/EffortJointInterface</hardwareInterface>
    </joint>
    <actuator name="right_back_roller_1_6_motor">
      <hardwareInterface>hardware_interface/EffortJointInterface</hardwareInterface>
      <mechanismReduction>1</mechanismReduction>
    </actuator>
  </transmission>
  <!-- <gazebo reference="${joint_name}_link">
        <selfCollide>0</selfCollide>
        <kp>1000000</kp>
        <kd>100</kd>
      </gazebo> -->
  <link name="right_back_roller_1_5_link">
    <visual>
      <origin rpy="0 0 0" xyz="-0.002 0 0"/>
      <geometry>
        <mesh filename="package://omnibot_platform_description/meshes/wheel_roller2.dae" scale="0.001 0.001 0.001"/>
      </geometry>
    </visual>
    <collision>
      <origin rpy="0 0 0" xyz="-0.002 0 0"/>
      <geometry>
        <mesh filename="package://omnibot_platform_description/meshes/wheel_roller2.dae" scale="0.001 0.001 0.001"/>
      </geometry>
    </collision>
    <inertial>
      <origin rpy="0 0 0" xyz="-0.002 0 0"/>
      <mass value="0.3"/>
      <inertia ixx="0.00024000" ixy="0.0" ixz="0.0" iyy="0.00076000" iyz="0.0" izz="0.00076000"/>
    </inertial>
    <surface>
      <friction>
        <ode>
          <mu1>10.2</mu1>
          <mu2>10.2</mu2>
          <kp>1e15</kp>
          <kd>1e13</kd>
        </ode>
      </friction>
      <bounce>
        <restitution_coefficient>0.01</restitution_coefficient>
        <threshold>0</threshold>
      </bounce>
      <contact>
        <ode>
          <max_vel>100</max_vel>
        </ode>
      </contact>
    </surface>
  </link>
  <joint name="right_back_roller_1_5_joint" type="continuous">
    <origin rpy="-0.5978938662841263 -0.6907055756402474 -0.4093711270983411" xyz="0 -0.036302738594392175 -0.017480741965307293"/>
    <axis xyz="1 0 0"/>
    <parent link="right_back_mecanum_wheel_link"/>
    <child link="right_back_roller_1_5_link"/>
    <!-- <safety_controller k_velocity="10.0" /> -->
    <dynamics damping="0.001" friction="0.0001"/>
  </joint>
  <transmission name="right_back_roller_1_5_trans">
    <type>transmission_interface/SimpleTransmission</type>
    <joint name="right_back_roller_1_5_joint">
      <hardwareInterface>hardware_interface/EffortJointInterface</hardwareInterface>
    </joint>
    <actuator name="right_back_roller_1_5_motor">
      <hardwareInterface>hardware_interface/EffortJointInterface</hardwareInterface>
      <mechanismReduction>1</mechanismReduction>
    </actuator>
  </transmission>
  <!-- <gazebo reference="${joint_name}_link">
        <selfCollide>0</selfCollide>
        <kp>1000000</kp>
        <kd>100</kd>
      </gazebo> -->
  <link name="right_back_roller_1_4_link">
    <visual>
      <origin rpy="0 0 0" xyz="-0.002 0 0"/>
      <geometry>
        <mesh filename="package://omnibot_platform_description/meshes/wheel_roller2.dae" scale="0.001 0.001 0.001"/>
      </geometry>
    </visual>
    <collision>
      <origin rpy="0 0 0" xyz="-0.002 0 0"/>
      <geometry>
        <mesh filename="package://omnibot_platform_description/meshes/wheel_roller2.dae" scale="0.001 0.001 0.001"/>
      </geometry>
    </collision>
    <inertial>
      <origin rpy="0 0 0" xyz="-0.002 0 0"/>
      <mass value="0.3"/>
      <inertia ixx="0.00024000" ixy="0.0" ixz="0.0" iyy="0.00076000" iyz="0.0" izz="0.00076000"/>
    </inertial>
    <surface>
      <friction>
        <ode>
          <mu1>10.2</mu1>
          <mu2>10.2</mu2>
          <kp>1e15</kp>
          <kd>1e13</kd>
        </ode>
      </friction>
      <bounce>
        <restitution_coefficient>0.01</restitution_coefficient>
        <threshold>0</threshold>
      </bounce>
      <contact>
        <ode>
          <max_vel>100</max_vel>
        </ode>
      </contact>
    </surface>
  </link>
  <joint name="right_back_roller_1_4_joint" type="continuous">
    <origin rpy="0.5978938662841266 -0.6907055756402473 0.4093711270983413" xyz="0 -0.036302738594392175 0.017480741965307304"/>
    <axis xyz="1 0 0"/>
    <parent link="right_back_mecanum_wheel_link"/>
    <child link="right_back_roller_1_4_link"/>
    <!-- <safety_controller k_velocity="10.0" /> -->
    <dynamics damping="0.001" friction="0.0001"/>
  </joint>
  <transmission name="right_back_roller_1_4_trans">
    <type>transmission_interface/SimpleTransmission</type>
    <joint name="right_back_roller_1_4_joint">
      <hardwareInterface>hardware_interface/EffortJointInterface</hardwareInterface>
    </joint>
    <actuator name="right_back_roller_1_4_motor">
      <hardwareInterface>hardware_interface/EffortJointInterface</hardwareInterface>
      <mechanismReduction>1</mechanismReduction>
    </actuator>
  </transmission>
  <!-- <gazebo reference="${joint_name}_link">
        <selfCollide>0</selfCollide>
        <kp>1000000</kp>
        <kd>100</kd>
      </gazebo> -->
  <link name="right_back_roller_1_3_link">
    <visual>
      <origin rpy="0 0 0" xyz="-0.002 0 0"/>
      <geometry>
        <mesh filename="package://omnibot_platform_description/meshes/wheel_roller2.dae" scale="0.001 0.001 0.001"/>
      </geometry>
    </visual>
    <collision>
      <origin rpy="0 0 0" xyz="-0.002 0 0"/>
      <geometry>
        <mesh filename="package://omnibot_platform_description/meshes/wheel_roller2.dae" scale="0.001 0.001 0.001"/>
      </geometry>
    </collision>
    <inertial>
      <origin rpy="0 0 0" xyz="-0.002 0 0"/>
      <mass value="0.3"/>
      <inertia ixx="0.00024000" ixy="0.0" ixz="0.0" iyy="0.00076000" iyz="0.0" izz="0.00076000"/>
    </inertial>
    <surface>
      <friction>
        <ode>
          <mu1>10.2</mu1>
          <mu2>10.2</mu2>
          <kp>1e15</kp>
          <kd>1e13</kd>
        </ode>
      </friction>
      <bounce>
        <restitution_coefficient>0.01</restitution_coefficient>
        <threshold>0</threshold>
      </bounce>
      <contact>
        <ode>
          <max_vel>100</max_vel>
        </ode>
      </contact>
    </surface>
  </link>
  <joint name="right_back_roller_1_3_joint" type="continuous">
    <origin rpy="1.4107836102355866 -0.15800265975965203 0.7727036539648157" xyz="0 -0.008966035991901775 0.03927887065389349"/>
    <axis xyz="1 0 0"/>
    <parent link="right_back_mecanum_wheel_link"/>
    <child link="right_back_roller_1_3_link"/>
    <!-- <safety_controller k_velocity="10.0" /> -->
    <dynamics damping="0.001" friction="0.0001"/>
  </joint>
  <transmission name="right_back_roller_1_3_trans">
    <type>transmission_interface/SimpleTransmission</type>
    <joint name="right_back_roller_1_3_joint">
      <hardwareInterface>hardware_interface/EffortJointInterface</hardwareInterface>
    </joint>
    <actuator name="right_back_roller_1_3_motor">
      <hardwareInterface>hardware_interface/EffortJointInterface</hardwareInterface>
      <mechanismReduction>1</mechanismReduction>
    </actuator>
  </transmission>
  <!-- <gazebo reference="${joint_name}_link">
        <selfCollide>0</selfCollide>
        <kp>1000000</kp>
        <kd>100</kd>
      </gazebo> -->
  <link name="right_back_roller_1_2_link">
    <visual>
      <origin rpy="0 0 0" xyz="-0.002 0 0"/>
      <geometry>
        <mesh filename="package://omnibot_platform_description/meshes/wheel_roller2.dae" scale="0.001 0.001 0.001"/>
      </geometry>
    </visual>
    <collision>
      <origin rpy="0 0 0" xyz="-0.002 0 0"/>
      <geometry>
        <mesh filename="package://omnibot_platform_description/meshes/wheel_roller2.dae" scale="0.001 0.001 0.001"/>
      </geometry>
    </collision>
    <inertial>
      <origin rpy="0 0 0" xyz="-0.002 0 0"/>
      <mass value="0.3"/>
      <inertia ixx="0.00024000" ixy="0.0" ixz="0.0" iyy="0.00076000" iyz="0.0" izz="0.00076000"/>
    </inertial>
    <surface>
      <friction>
        <ode>
          <mu1>10.2</mu1>
          <mu2>10.2</mu2>
          <kp>1e15</kp>
          <kd>1e13</kd>
        </ode>
      </friction>
      <bounce>
        <restitution_coefficient>0.01</restitution_coefficient>
        <threshold>0</threshold>
      </bounce>
      <contact>
        <ode>
          <max_vel>100</max_vel>
        </ode>
      </contact>
    </surface>
  </link>
  <joint name="right_back_roller_1_2_joint" type="continuous">
    <origin rpy="-1.0573448805303243 0.4565720337917213 0.6635639812413234" xyz="0 0.025122274586293954 0.03149920859715445"/>
    <axis xyz="1 0 0"/>
    <parent link="right_back_mecanum_wheel_link"/>
    <child link="right_back_roller_1_2_link"/>
    <!-- <safety_controller k_velocity="10.0" /> -->
    <dynamics damping="0.001" friction="0.0001"/>
  </joint>
  <transmission name="right_back_roller_1_2_trans">
    <type>transmission_interface/SimpleTransmission</type>
    <joint name="right_back_roller_1_2_joint">
      <hardwareInterface>hardware_interface/EffortJointInterface</hardwareInterface>
    </joint>
    <actuator name="right_back_roller_1_2_motor">
      <hardwareInterface>hardware_interface/EffortJointInterface</hardwareInterface>
      <mechanismReduction>1</mechanismReduction>
    </actuator>
  </transmission>
  <!-- <gazebo reference="${joint_name}_link">
        <selfCollide>0</selfCollide>
        <kp>1000000</kp>
        <kd>100</kd>
      </gazebo> -->
  <link name="right_back_roller_1_1_link">
    <visual>
      <origin rpy="0 0 0" xyz="-0.002 0 0"/>
      <geometry>
        <mesh filename="package://omnibot_platform_description/meshes/wheel_roller2.dae" scale="0.001 0.001 0.001"/>
      </geometry>
    </visual>
    <collision>
      <origin rpy="0 0 0" xyz="-0.002 0 0"/>
      <geometry>
        <mesh filename="package://omnibot_platform_description/meshes/wheel_roller2.dae" scale="0.001 0.001 0.001"/>
      </geometry>
    </collision>
    <inertial>
      <origin rpy="0 0 0" xyz="-0.002 0 0"/>
      <mass value="0.3"/>
      <inertia ixx="0.00024000" ixy="0.0" ixz="0.0" iyy="0.00076000" iyz="0.0" izz="0.00076000"/>
    </inertial>
    <surface>
      <friction>
        <ode>
          <mu1>10.2</mu1>
          <mu2>10.2</mu2>
          <kp>1e15</kp>
          <kd>1e13</kd>
        </ode>
      </friction>
      <bounce>
        <restitution_coefficient>0.01</restitution_coefficient>
        <threshold>0</threshold>
      </bounce>
      <contact>
        <ode>
          <max_vel>100</max_vel>
        </ode>
      </contact>
    </surface>
  </link>
  <joint name="right_back_roller_1_1_joint" type="continuous">
    <origin rpy="-0.0 0.7853981633974482 0.0" xyz="0 0.040293 0.0"/>
    <axis xyz="1 0 0"/>
    <parent link="right_back_mecanum_wheel_link"/>
    <child link="right_back_roller_1_1_link"/>
    <!-- <safety_controller k_velocity="10.0" /> -->
    <dynamics damping="0.001" friction="0.0001"/>
  </joint>
  <transmission name="right_back_roller_1_1_trans">
    <type>transmission_interface/SimpleTransmission</type>
    <joint name="right_back_roller_1_1_joint">
      <hardwareInterface>hardware_interface/EffortJointInterface</hardwareInterface>
    </joint>
    <actuator name="right_back_roller_1_1_motor">
      <hardwareInterface>hardware_interface/EffortJointInterface</hardwareInterface>
      <mechanismReduction>1</mechanismReduction>
    </actuator>
  </transmission>
  <!-- <gazebo reference="${joint_name}_link">
        <selfCollide>0</selfCollide>
        <kp>1000000</kp>
        <kd>100</kd>
      </gazebo> -->
  <link name="right_back_roller_2_7_link">
    <visual>
      <origin rpy="0 0 0" xyz="-0.002 0 0"/>
      <geometry>
        <mesh filename="package://omnibot_platform_description/meshes/wheel_roller2.dae" scale="0.001 0.001 0.001"/>
      </geometry>
    </visual>
    <collision>
      <origin rpy="0 0 0" xyz="-0.002 0 0"/>
      <geometry>
        <mesh filename="package://omnibot_platform_description/meshes/wheel_roller2.dae" scale="0.001 0.001 0.001"/>
      </geometry>
    </collision>
    <inertial>
      <origin rpy="0 0 0" xyz="-0.002 0 0"/>
      <mass value="0.3"/>
      <inertia ixx="0.00024000" ixy="0.0" ixz="0.0" iyy="0.00076000" iyz="0.0" izz="0.00076000"/>
    </inertial>
    <surface>
      <friction>
        <ode>
          <mu1>10.2</mu1>
          <mu2>10.2</mu2>
          <kp>1e15</kp>
          <kd>1e13</kd>
        </ode>
      </friction>
      <bounce>
        <restitution_coefficient>0.01</restitution_coefficient>
        <threshold>0</threshold>
      </bounce>
      <contact>
        <ode>
          <max_vel>100</max_vel>
        </ode>
      </contact>
    </surface>
  </link>
  <joint name="right_back_roller_2_7_joint" type="continuous">
    <origin rpy="4.197344880530324 3.596572033791721 -0.6635639812413235" xyz="0 0.025122274586293944 -0.03149920859715446"/>
    <axis xyz="1 0 0"/>
    <parent link="right_back_mecanum_wheel_link"/>
    <child link="right_back_roller_2_7_link"/>
    <!-- <safety_controller k_velocity="10.0" /> -->
    <dynamics damping="0.001" friction="0.0001"/>
  </joint>
  <transmission name="right_back_roller_2_7_trans">
    <type>transmission_interface/SimpleTransmission</type>
    <joint name="right_back_roller_2_7_joint">
      <hardwareInterface>hardware_interface/EffortJointInterface</hardwareInterface>
    </joint>
    <actuator name="right_back_roller_2_7_motor">
      <hardwareInterface>hardware_interface/EffortJointInterface</hardwareInterface>
      <mechanismReduction>1</mechanismReduction>
    </actuator>
  </transmission>
  <!-- <gazebo reference="${joint_name}_link">
        <selfCollide>0</selfCollide>
        <kp>1000000</kp>
        <kd>100</kd>
      </gazebo> -->
  <link name="right_back_roller_2_6_link">
    <visual>
      <origin rpy="0 0 0" xyz="-0.002 0 0"/>
      <geometry>
        <mesh filename="package://omnibot_platform_description/meshes/wheel_roller2.dae" scale="0.001 0.001 0.001"/>
      </geometry>
    </visual>
    <collision>
      <origin rpy="0 0 0" xyz="-0.002 0 0"/>
      <geometry>
        <mesh filename="package://omnibot_platform_description/meshes/wheel_roller2.dae" scale="0.001 0.001 0.001"/>
      </geometry>
    </collision>
    <inertial>
      <origin rpy="0 0 0" xyz="-0.002 0 0"/>
      <mass value="0.3"/>
      <inertia ixx="0.00024000" ixy="0.0" ixz="0.0" iyy="0.00076000" iyz="0.0" izz="0.00076000"/>
    </inertial>
    <surface>
      <friction>
        <ode>
          <mu1>10.2</mu1>
          <mu2>10.2</mu2>
          <kp>1e15</kp>
          <kd>1e13</kd>
        </ode>
      </friction>
      <bounce>
        <restitution_coefficient>0.01</restitution_coefficient>
        <threshold>0</threshold>
      </bounce>
      <contact>
        <ode>
          <max_vel>100</max_vel>
        </ode>
      </contact>
    </surface>
  </link>
  <joint name="right_back_roller_2_6_joint" type="continuous">
    <origin rpy="1.729216389764413 2.9819973402403486 -0.7727036539648158" xyz="0 -0.008966035991901749 -0.039278870653893495"/>
    <axis xyz="1 0 0"/>
    <parent link="right_back_mecanum_wheel_link"/>
    <child link="right_back_roller_2_6_link"/>
    <!-- <safety_controller k_velocity="10.0" /> -->
    <dynamics damping="0.001" friction="0.0001"/>
  </joint>
  <transmission name="right_back_roller_2_6_trans">
    <type>transmission_interface/SimpleTransmission</type>
    <joint name="right_back_roller_2_6_joint">
      <hardwareInterface>hardware_interface/EffortJointInterface</hardwareInterface>
    </joint>
    <actuator name="right_back_roller_2_6_motor">
      <hardwareInterface>hardware_interface/EffortJointInterface</hardwareInterface>
      <mechanismReduction>1</mechanismReduction>
    </actuator>
  </transmission>
  <!-- <gazebo reference="${joint_name}_link">
        <selfCollide>0</selfCollide>
        <kp>1000000</kp>
        <kd>100</kd>
      </gazebo> -->
  <link name="right_back_roller_2_5_link">
    <visual>
      <origin rpy="0 0 0" xyz="-0.002 0 0"/>
      <geometry>
        <mesh filename="package://omnibot_platform_description/meshes/wheel_roller2.dae" scale="0.001 0.001 0.001"/>
      </geometry>
    </visual>
    <collision>
      <origin rpy="0 0 0" xyz="-0.002 0 0"/>
      <geometry>
        <mesh filename="package://omnibot_platform_description/meshes/wheel_roller2.dae" scale="0.001 0.001 0.001"/>
      </geometry>
    </collision>
    <inertial>
      <origin rpy="0 0 0" xyz="-0.002 0 0"/>
      <mass value="0.3"/>
      <inertia ixx="0.00024000" ixy="0.0" ixz="0.0" iyy="0.00076000" iyz="0.0" izz="0.00076000"/>
    </inertial>
    <surface>
      <friction>
        <ode>
          <mu1>10.2</mu1>
          <mu2>10.2</mu2>
          <kp>1e15</kp>
          <kd>1e13</kd>
        </ode>
      </friction>
      <bounce>
        <restitution_coefficient>0.01</restitution_coefficient>
        <threshold>0</threshold>
      </bounce>
      <contact>
        <ode>
          <max_vel>100</max_vel>
        </ode>
      </contact>
    </surface>
  </link>
  <joint name="right_back_roller_2_5_joint" type="continuous">
    <origin rpy="2.542106133715874 2.4492944243597528 -0.4093711270983411" xyz="0 -0.036302738594392175 -0.017480741965307293"/>
    <axis xyz="1 0 0"/>
    <parent link="right_back_mecanum_wheel_link"/>
    <child link="right_back_roller_2_5_link"/>
    <!-- <safety_controller k_velocity="10.0" /> -->
    <dynamics damping="0.001" friction="0.0001"/>
  </joint>
  <transmission name="right_back_roller_2_5_trans">
    <type>transmission_interface/SimpleTransmission</type>
    <joint name="right_back_roller_2_5_joint">
      <hardwareInterface>hardware_interface/EffortJointInterface</hardwareInterface>
    </joint>
    <actuator name="right_back_roller_2_5_motor">
      <hardwareInterface>hardware_interface/EffortJointInterface</hardwareInterface>
      <mechanismReduction>1</mechanismReduction>
    </actuator>
  </transmission>
  <!-- <gazebo reference="${joint_name}_link">
        <selfCollide>0</selfCollide>
        <kp>1000000</kp>
        <kd>100</kd>
      </gazebo> -->
  <link name="right_back_roller_2_4_link">
    <visual>
      <origin rpy="0 0 0" xyz="-0.002 0 0"/>
      <geometry>
        <mesh filename="package://omnibot_platform_description/meshes/wheel_roller2.dae" scale="0.001 0.001 0.001"/>
      </geometry>
    </visual>
    <collision>
      <origin rpy="0 0 0" xyz="-0.002 0 0"/>
      <geometry>
        <mesh filename="package://omnibot_platform_description/meshes/wheel_roller2.dae" scale="0.001 0.001 0.001"/>
      </geometry>
    </collision>
    <inertial>
      <origin rpy="0 0 0" xyz="-0.002 0 0"/>
      <mass value="0.3"/>
      <inertia ixx="0.00024000" ixy="0.0" ixz="0.0" iyy="0.00076000" iyz="0.0" izz="0.00076000"/>
    </inertial>
    <surface>
      <friction>
        <ode>
          <mu1>10.2</mu1>
          <mu2>10.2</mu2>
          <kp>1e15</kp>
          <kd>1e13</kd>
        </ode>
      </friction>
      <bounce>
        <restitution_coefficient>0.01</restitution_coefficient>
        <threshold>0</threshold>
      </bounce>
      <contact>
        <ode>
          <max_vel>100</max_vel>
        </ode>
      </contact>
    </surface>
  </link>
  <joint name="right_back_roller_2_4_joint" type="continuous">
    <origin rpy="3.737893866284127 2.4492944243597528 0.4093711270983413" xyz="0 -0.036302738594392175 0.017480741965307304"/>
    <axis xyz="1 0 0"/>
    <parent link="right_back_mecanum_wheel_link"/>
    <child link="right_back_roller_2_4_link"/>
    <!-- <safety_controller k_velocity="10.0" /> -->
    <dynamics damping="0.001" friction="0.0001"/>
  </joint>
  <transmission name="right_back_roller_2_4_trans">
    <type>transmission_interface/SimpleTransmission</type>
    <joint name="right_back_roller_2_4_joint">
      <hardwareInterface>hardware_interface/EffortJointInterface</hardwareInterface>
    </joint>
    <actuator name="right_back_roller_2_4_motor">
      <hardwareInterface>hardware_interface/EffortJointInterface</hardwareInterface>
      <mechanismReduction>1</mechanismReduction>
    </actuator>
  </transmission>
  <!-- <gazebo reference="${joint_name}_link">
        <selfCollide>0</selfCollide>
        <kp>1000000</kp>
        <kd>100</kd>
      </gazebo> -->
  <link name="right_back_roller_2_3_link">
    <visual>
      <origin rpy="0 0 0" xyz="-0.002 0 0"/>
      <geometry>
        <mesh filename="package://omnibot_platform_description/meshes/wheel_roller2.dae" scale="0.001 0.001 0.001"/>
      </geometry>
    </visual>
    <collision>
      <origin rpy="0 0 0" xyz="-0.002 0 0"/>
      <geometry>
        <mesh filename="package://omnibot_platform_description/meshes/wheel_roller2.dae" scale="0.001 0.001 0.001"/>
      </geometry>
    </collision>
    <inertial>
      <origin rpy="0 0 0" xyz="-0.002 0 0"/>
      <mass value="0.3"/>
      <inertia ixx="0.00024000" ixy="0.0" ixz="0.0" iyy="0.00076000" iyz="0.0" izz="0.00076000"/>
    </inertial>
    <surface>
      <friction>
        <ode>
          <mu1>10.2</mu1>
          <mu2>10.2</mu2>
          <kp>1e15</kp>
          <kd>1e13</kd>
        </ode>
      </friction>
      <bounce>
        <restitution_coefficient>0.01</restitution_coefficient>
        <threshold>0</threshold>
      </bounce>
      <contact>
        <ode>
          <max_vel>100</max_vel>
        </ode>
      </contact>
    </surface>
  </link>
  <joint name="right_back_roller_2_3_joint" type="continuous">
    <origin rpy="4.5507836102355865 2.981997340240348 0.7727036539648157" xyz="0 -0.008966035991901775 0.03927887065389349"/>
    <axis xyz="1 0 0"/>
    <parent link="right_back_mecanum_wheel_link"/>
    <child link="right_back_roller_2_3_link"/>
    <!-- <safety_controller k_velocity="10.0" /> -->
    <dynamics damping="0.001" friction="0.0001"/>
  </joint>
  <transmission name="right_back_roller_2_3_trans">
    <type>transmission_interface/SimpleTransmission</type>
    <joint name="right_back_roller_2_3_joint">
      <hardwareInterface>hardware_interface/EffortJointInterface</hardwareInterface>
    </joint>
    <actuator name="right_back_roller_2_3_motor">
      <hardwareInterface>hardware_interface/EffortJointInterface</hardwareInterface>
      <mechanismReduction>1</mechanismReduction>
    </actuator>
  </transmission>
  <!-- <gazebo reference="${joint_name}_link">
        <selfCollide>0</selfCollide>
        <kp>1000000</kp>
        <kd>100</kd>
      </gazebo> -->
  <link name="right_back_roller_2_2_link">
    <visual>
      <origin rpy="0 0 0" xyz="-0.002 0 0"/>
      <geometry>
        <mesh filename="package://omnibot_platform_description/meshes/wheel_roller2.dae" scale="0.001 0.001 0.001"/>
      </geometry>
    </visual>
    <collision>
      <origin rpy="0 0 0" xyz="-0.002 0 0"/>
      <geometry>
        <mesh filename="package://omnibot_platform_description/meshes/wheel_roller2.dae" scale="0.001 0.001 0.001"/>
      </geometry>
    </collision>
    <inertial>
      <origin rpy="0 0 0" xyz="-0.002 0 0"/>
      <mass value="0.3"/>
      <inertia ixx="0.00024000" ixy="0.0" ixz="0.0" iyy="0.00076000" iyz="0.0" izz="0.00076000"/>
    </inertial>
    <surface>
      <friction>
        <ode>
          <mu1>10.2</mu1>
          <mu2>10.2</mu2>
          <kp>1e15</kp>
          <kd>1e13</kd>
        </ode>
      </friction>
      <bounce>
        <restitution_coefficient>0.01</restitution_coefficient>
        <threshold>0</threshold>
      </bounce>
      <contact>
        <ode>
          <max_vel>100</max_vel>
        </ode>
      </contact>
    </surface>
  </link>
  <joint name="right_back_roller_2_2_joint" type="continuous">
    <origin rpy="2.082655119469676 3.5965720337917215 0.6635639812413234" xyz="0 0.025122274586293954 0.03149920859715445"/>
    <axis xyz="1 0 0"/>
    <parent link="right_back_mecanum_wheel_link"/>
    <child link="right_back_roller_2_2_link"/>
    <!-- <safety_controller k_velocity="10.0" /> -->
    <dynamics damping="0.001" friction="0.0001"/>
  </joint>
  <transmission name="right_back_roller_2_2_trans">
    <type>transmission_interface/SimpleTransmission</type>
    <joint name="right_back_roller_2_2_joint">
      <hardwareInterface>hardware_interface/EffortJointInterface</hardwareInterface>
    </joint>
    <actuator name="right_back_roller_2_2_motor">
      <hardwareInterface>hardware_interface/EffortJointInterface</hardwareInterface>
      <mechanismReduction>1</mechanismReduction>
    </actuator>
  </transmission>
  <!-- <gazebo reference="${joint_name}_link">
        <selfCollide>0</selfCollide>
        <kp>1000000</kp>
        <kd>100</kd>
      </gazebo> -->
  <link name="right_back_roller_2_1_link">
    <visual>
      <origin rpy="0 0 0" xyz="-0.002 0 0"/>
      <geometry>
        <mesh filename="package://omnibot_platform_description/meshes/wheel_roller2.dae" scale="0.001 0.001 0.001"/>
      </geometry>
    </visual>
    <collision>
      <origin rpy="0 0 0" xyz="-0.002 0 0"/>
      <geometry>
        <mesh filename="package://omnibot_platform_description/meshes/wheel_roller2.dae" scale="0.001 0.001 0.001"/>
      </geometry>
    </collision>
    <inertial>
      <origin rpy="0 0 0" xyz="-0.002 0 0"/>
      <mass value="0.3"/>
      <inertia ixx="0.00024000" ixy="0.0" ixz="0.0" iyy="0.00076000" iyz="0.0" izz="0.00076000"/>
    </inertial>
    <surface>
      <friction>
        <ode>
          <mu1>10.2</mu1>
          <mu2>10.2</mu2>
          <kp>1e15</kp>
          <kd>1e13</kd>
        </ode>
      </friction>
      <bounce>
        <restitution_coefficient>0.01</restitution_coefficient>
        <threshold>0</threshold>
      </bounce>
      <contact>
        <ode>
          <max_vel>100</max_vel>
        </ode>
      </contact>
    </surface>
  </link>
  <joint name="right_back_roller_2_1_joint" type="continuous">
    <origin rpy="3.14 3.9253981633974484 0.0" xyz="0 0.040293 0.0"/>
    <axis xyz="1 0 0"/>
    <parent link="right_back_mecanum_wheel_link"/>
    <child link="right_back_roller_2_1_link"/>
    <!-- <safety_controller k_velocity="10.0" /> -->
    <dynamics damping="0.001" friction="0.0001"/>
  </joint>
  <transmission name="right_back_roller_2_1_trans">
    <type>transmission_interface/SimpleTransmission</type>
    <joint name="right_back_roller_2_1_joint">
      <hardwareInterface>hardware_interface/EffortJointInterface</hardwareInterface>
    </joint>
    <actuator name="right_back_roller_2_1_motor">
      <hardwareInterface>hardware_interface/EffortJointInterface</hardwareInterface>
      <mechanismReduction>1</mechanismReduction>
    </actuator>
  </transmission>
  <!-- <gazebo reference="${joint_name}_link">
        <selfCollide>0</selfCollide>
        <kp>1000000</kp>
        <kd>100</kd>
      </gazebo> -->
  <transmission name="right_back_mecanum_trans">
    <type>transmission_interface/SimpleTransmission</type>
    <actuator name="right_back_mecanum_motor">
      <mechanicalReduction>1</mechanicalReduction>
    </actuator>
    <joint name="right_back_mecanum_joint">
      <hardwareInterface>hardware_interface/VelocityJointInterface</hardwareInterface>
    </joint>
  </transmission>
  <joint name="right_back_mecanum_joint" type="continuous">
    <origin rpy="0.0 0.0 -1.57" xyz="-0.168 -0.18805 0.0155"/>
    <parent link="base_link"/>
    <child link="right_back_mecanum_wheel_link"/>
    <axis xyz="1 0 0"/>
    <limit effort="1000.0" lower="-3.14" upper="3.14" velocity="100.0"/>
  </joint>
  <material name="t265_aluminum">
    <color rgba="0.5 0.5 0.5 1"/>
  </material>
  <!-- camera body, with origin at camera_pose_frame -->
  <joint name="t265_pose_joint" type="fixed">
    <origin rpy="0 0 0" xyz="0.2265  0.0 0.09425"/>
    <parent link="base_link"/>
    <child link="t265_pose_frame"/>
  </joint>
  <link name="t265_pose_frame">
    <visual>
      <origin rpy="1.5707963267948966 0 1.5707963267948966" xyz="0 0 0"/>
      <geometry>
        <mesh filename="package://realsense_gazebo_description/meshes/t265_full.stl" scale="0.001 0.001 0.001"/>
      </geometry>
      <material name="t265_aluminum"/>
    </visual>
    <collision>
      <origin rpy="1.5707963267948966 0 1.5707963267948966" xyz="0 0 0"/>
      <geometry>
        <mesh filename="package://realsense_gazebo_description/meshes/t265_simplified.stl" scale="0.001 0.001 0.001"/>
      </geometry>
    </collision>
    <inertial>
      <!-- The following are not reliable values, and should not be used for modeling -->
      <mass value="0.068024"/>
      <origin xyz="0 0 0"/>
      <inertia ixx="0.0000039782" ixy="0.0" ixz="0.000000034641" iyy="0.000065045" iyz="0.0" izz="0.000067499"/>
    </inertial>
  </link>
  <!-- camera body, with origin at camera_link -->
  <joint name="t265_link_joint" type="fixed">
    <origin rpy="1.5707963267948966 0 -1.5707963267948966" xyz="0 0 0"/>
    <parent link="t265_pose_frame"/>
    <child link="t265_link"/>
  </joint>
  <link name="t265_link"/>
  <joint name="t265_fisheye1_rgb_joint" type="fixed">
    <origin rpy="0 1.5707963267948966 1.5707963267948966" xyz="-0.0411 0.0 0.0"/>
    <parent link="t265_link"/>
    <child link="t265_fisheye1_rgb_frame"/>
  </joint>
  <link name="t265_fisheye1_rgb_frame"/>
  <joint name="t265_fisheye2_rgb_joint" type="fixed">
    <origin rpy="0 1.5707963267948966 1.5707963267948966" xyz="0.0229 0.0 0.0"/>
    <parent link="t265_link"/>
    <child link="t265_fisheye2_rgb_frame"/>
  </joint>
  <link name="t265_fisheye2_rgb_frame"/>
  <joint name="t265_fisheye1_optical_joint" type="fixed">
    <origin rpy="-1.5707963267948966 0 -1.5707963267948966" xyz="0 0 0"/>
    <parent link="t265_fisheye1_rgb_frame"/>
    <child link="t265_fisheye1_optical_frame"/>
  </joint>
  <link name="t265_fisheye1_optical_frame"/>
  <joint name="t265_fisheye2_optical_joint" type="fixed">
    <origin rpy="-1.5707963267948966 0 -1.5707963267948966" xyz="0 0 0"/>
    <parent link="t265_fisheye2_rgb_frame"/>
    <child link="t265_fisheye2_optical_frame"/>
  </joint>
  <link name="t265_fisheye2_optical_frame"/>
  <!-- IMU joints and links -->
  <joint name="t265_accel_joint" type="fixed">
    <origin rpy="0 3.141592653589793 0" xyz="-0.0311 0 0.00655"/>
    <parent link="t265_link"/>
    <child link="t265_accel_frame"/>
  </joint>
  <link name="t265_accel_frame"/>
  <joint name="t265_accel_optical_joint" type="fixed">
    <origin rpy="0 3.141592653589793 0" xyz="-0.0311 0 0.00655"/>
    <parent link="t265_accel_frame"/>
    <child link="t265_accel_optical_frame"/>
  </joint>
  <link name="t265_accel_optical_frame"/>
  <joint name="t265_gyro_joint" type="fixed">
    <origin rpy="0 3.141592653589793 0" xyz="-0.0311 0 0.00655"/>
    <parent link="t265_link"/>
    <child link="t265_gyro_frame"/>
  </joint>
  <link name="t265_gyro_frame"/>
  <joint name="t265_gyro_optical_joint" type="fixed">
    <origin rpy="0 0 0" xyz="0 0 0"/>
    <parent link="t265_gyro_frame"/>
    <child link="t265_gyro_optical_frame"/>
  </joint>
  <link name="t265_gyro_optical_frame"/>
  <!-- Load parameters to model's main link-->
  <gazebo reference="t265_fisheye1_rgb_frame">
    <self_collide>0</self_collide>
    <enable_wind>0</enable_wind>
    <kinematic>0</kinematic>
    <!-- <gravity>1</gravity> -->
    <!--<mu>1</mu>-->
    <mu2>1</mu2>
    <fdir1>0 0 0</fdir1>
    <!--<slip1>0</slip1>
      <slip2>0</slip2>-->
    <kp>1e+13</kp>
    <kd>1</kd>
    <!--<max_vel>0.01</max_vel>
      <min_depth>0</min_depth>-->
    <sensor name="t265fisheye1" type="wideanglecamera">
      <!-- <origin xyz="0 0 0" rpy="0 ${M_PI/2} 0"/> -->
      <update_rate>30</update_rate>
      <camera>
        <horizontal_fov>1.95</horizontal_fov>
        <image>
          <width>848</width>
          <height>800</height>
        </image>
        <clip>
          <near>0.2</near>
          <far>100</far>
        </clip>
        <lens>
          <!-- type element is mandatory -->
          <type>orthographic</type>
          <!-- if it is set to `true` your horizontal FOV will remain as defined -->
          <!-- othervise it depends on lens type and custom function, if there is one -->
          <scale_to_hfov>true</scale_to_hfov>
          <!-- clip everything that is outside of this angle -->
          <!-- eye balled value for these cameras-->
          <cutoff_angle>2.20</cutoff_angle>
          <!-- resolution of the cubemap texture, the highter it is - the sharper is your image -->
          <env_texture_size>1024</env_texture_size>
        </lens>
      </camera>
      <plugin filename="libgazebo_ros_camera.so" name="t265fisheye1">
        <alwaysOn>true</alwaysOn>
        <updateRate>30</updateRate>
        <cameraName>t265/fisheye1</cameraName>
        <imageTopicName>image_raw</imageTopicName>
        <cameraInfoTopicName>camera_info</cameraInfoTopicName>
        <frameName>t265_fisheye1_optical_frame</frameName>
        <hackBaseline>0.07</hackBaseline>
        <distortionK1>-0.00040996368625201285</distortionK1>
        <distortionK2>0.03653175011277199</distortionK2>
        <distortionK3>0.0</distortionK3>
        <distortionP1>-0.034823670983314514</distortionP1>
        <distortionP2>0.0052825710736215115</distortionP2>
        <Cx>416.22</Cx>
        <Cy>402.1</Cy>
        <CxPrime>416.22</CxPrime>
      </plugin>
    </sensor>
  </gazebo>
  <gazebo reference="t265_fisheye2_rgb_frame">
    <self_collide>0</self_collide>
    <enable_wind>0</enable_wind>
    <kinematic>0</kinematic>
    <!-- <gravity>1</gravity> -->
    <!--<mu>1</mu>-->
    <mu2>1</mu2>
    <fdir1>0 0 0</fdir1>
    <!--<slip1>0</slip1>
      <slip2>0</slip2>-->
    <kp>1e+13</kp>
    <kd>1</kd>
    <!--<max_vel>0.01</max_vel>
      <min_depth>0</min_depth>-->
    <sensor name="t265fisheye2" type="wideanglecamera">
      <!-- <origin xyz="0 0 0" rpy="0 ${M_PI/2} 0"/> -->
      <update_rate>30</update_rate>
      <camera>
        <horizontal_fov>2.84</horizontal_fov>
        <image>
          <width>848</width>
          <height>800</height>
        </image>
        <clip>
          <near>0.1</near>
          <far>100</far>
        </clip>
        <lens>
          <!-- type element is mandatory -->
          <type>orthographic</type>
          <!-- if it is set to `true` your horizontal FOV will remain as defined -->
          <!-- othervise it depends on lens type and custom function, if there is one -->
          <scale_to_hfov>true</scale_to_hfov>
          <!-- clip everything that is outside of this angle -->
          <!-- eye balled value for these cameras-->
          <cutoff_angle>2.20</cutoff_angle>
          <!-- resolution of the cubemap texture, the highter it is - the sharper is your image -->
          <env_texture_size>1024</env_texture_size>
        </lens>
      </camera>
      <always_on>1</always_on>
      <plugin filename="libgazebo_ros_camera.so" name="t265fisheye2">
        <alwaysOn>true</alwaysOn>
        <updateRate>30</updateRate>
        <cameraName>t265/fisheye2</cameraName>
        <imageTopicName>image_raw</imageTopicName>
        <cameraInfoTopicName>camera_info</cameraInfoTopicName>
        <frameName>t265_fisheye2_optical_frame</frameName>
        <hackBaseline>0.07</hackBaseline>
        <distortionK1>-0.00040996368625201285</distortionK1>
        <distortionK2>0.03653175011277199</distortionK2>
        <distortionK3>0.0</distortionK3>
        <distortionP1>-0.034823670983314514</distortionP1>
        <distortionP2>0.0052825710736215115</distortionP2>
      </plugin>
    </sensor>
    <sensor name="{camera_name}accel" type="imu">
      <always_on>true</always_on>
      <update_rate>62.5</update_rate>
      <plugin filename="librealsense_gazebo_accel_sensor.so" name="t265_accel_plugin">
        <topicName>t265/accel/sample</topicName>
        <bodyName>t265_pose_frame</bodyName>
        <updateRateHZ>62.5</updateRateHZ>
        <gaussianNoise>0.1</gaussianNoise>
        <xyzOffset>0 0 0</xyzOffset>
        <rpyOffset>0 0 0</rpyOffset>
        <frameName>t265_accel_optical_frame</frameName>
        <initialOrientationAsReference>false</initialOrientationAsReference>
      </plugin>
      <pose>0 0 0 0 0 0</pose>
    </sensor>
    <sensor name="{camera_name}gyro" type="imu">
      <always_on>true</always_on>
      <update_rate>200</update_rate>
      <topic>t265/gyro/sample</topic>
      <plugin filename="librealsense_gazebo_gyro_sensor.so" name="t265_gyro_plugin">
        <topicName>t265/gyro/sample</topicName>
        <bodyName>t265_pose_frame</bodyName>
        <updateRateHZ>200</updateRateHZ>
        <gaussianNoise>0.1</gaussianNoise>
        <xyzOffset>0 0 0</xyzOffset>
        <rpyOffset>0 0 0</rpyOffset>
        <frameName>t265_gyro_optical_frame</frameName>
        <initialOrientationAsReference>false</initialOrientationAsReference>
      </plugin>
    </sensor>
  </gazebo>
  <gazebo>
    <!-- Odom from SLAM -->
    <plugin filename="libgazebo_ros_p3d.so" name="p3d_base_controller">
      <alwaysOn>true</alwaysOn>
      <updateRate>262</updateRate>
      <bodyName>t265_pose_frame</bodyName>
      <topicName>t265/odom/sample</topicName>
      <gaussianNoise>0.01</gaussianNoise>
      <frameName>map</frameName>
      <xyzOffsets>0.0 0.0 0.0</xyzOffsets>
      <rpyOffsets>0.0 0.0 0.0</rpyOffsets>
    </plugin>
  </gazebo>
  <material name="d400_aluminum">
    <color rgba="0.5 0.5 0.5 1"/>
  </material>
  <!-- camera body, with origin at bottom screw mount -->
  <joint name="d400_joint" type="fixed">
    <origin rpy="0.0 0.0 0.0" xyz="0.21150000000000002 0.0  0.114"/>
    <parent link="base_link"/>
    <child link="d400_bottom_screw_frame"/>
  </joint>
  <link name="d400_bottom_screw_frame"/>
  <joint name="d400_link_joint" type="fixed">
    <origin rpy="0 0 0" xyz="0 0.0175 0.0125"/>
    <parent link="d400_bottom_screw_frame"/>
    <child link="d400_link"/>
  </joint>
  <link name="d400_link">
    <visual>
      <origin rpy="1.5707963267948966 0 1.5707963267948966" xyz="0.0149 -0.0175 0"/>
      <geometry>
        <!-- <box size="${d435_cam_width} ${d435_cam_height} ${d435_cam_depth}"/> -->
        <mesh filename="package://realsense2_description/meshes/d435.dae"/>
        <!--<mesh filename="package://realsense2_description/meshes/d435/d435.dae"/>-->
      </geometry>
      <material name="d400_aluminum"/>
    </visual>
    <collision>
      <origin rpy="0 0 0" xyz="0 -0.0175 0"/>
      <geometry>
        <box size="0.02505 0.09 0.025"/>
      </geometry>
    </collision>
    <inertial>
      <!-- The following are not reliable values, and should not be used for modeling -->
      <mass value="0.564"/>
      <origin xyz="0 0 0"/>
      <inertia ixx="0.003881243" ixy="0.0" ixz="0.0" iyy="0.000498940" iyz="0.0" izz="0.003879257"/>
    </inertial>
  </link>
  <!-- camera depth joints and links -->
  <joint name="d400_depth_joint" type="fixed">
    <origin rpy="0 0 0" xyz="0 0 0"/>
    <parent link="d400_link"/>
    <child link="d400_depth_frame"/>
  </joint>
  <link name="d400_depth_frame"/>
  <joint name="d400_depth_optical_joint" type="fixed">
    <origin rpy="-1.5707963267948966 0 -1.5707963267948966" xyz="0 0 0"/>
    <parent link="d400_depth_frame"/>
    <child link="d400_depth_optical_frame"/>
  </joint>
  <link name="d400_depth_optical_frame"/>
  <!-- camera left IR joints and links -->
  <joint name="d400_left_ir_joint" type="fixed">
    <origin rpy="0 0 0" xyz="0 0.0 0"/>
    <parent link="d400_depth_frame"/>
    <child link="d400_left_ir_frame"/>
  </joint>
  <link name="d400_left_ir_frame"/>
  <joint name="d400_left_ir_optical_joint" type="fixed">
    <origin rpy="-1.5707963267948966 0 -1.5707963267948966" xyz="0 0 0"/>
    <parent link="d400_left_ir_frame"/>
    <child link="d400_left_ir_optical_frame"/>
  </joint>
  <link name="d400_left_ir_optical_frame"/>
  <!-- camera right IR joints and links -->
  <joint name="d400_right_ir_joint" type="fixed">
    <origin rpy="0 0 0" xyz="0 -0.05 0"/>
    <parent link="d400_depth_frame"/>
    <child link="d400_right_ir_frame"/>
  </joint>
  <link name="d400_right_ir_frame"/>
  <joint name="d400_right_ir_optical_joint" type="fixed">
    <origin rpy="-1.5707963267948966 0 -1.5707963267948966" xyz="0 0 0"/>
    <parent link="d400_right_ir_frame"/>
    <child link="d400_right_ir_optical_frame"/>
  </joint>
  <link name="d400_right_ir_optical_frame"/>
  <!-- camera color joints and links -->
  <joint name="d400_color_joint" type="fixed">
    <origin rpy="0 0 0" xyz="0 0.015 0"/>
    <parent link="d400_depth_frame"/>
    <child link="d400_color_frame"/>
  </joint>
  <link name="d400_color_frame"/>
  <joint name="d400_color_optical_joint" type="fixed">
    <origin rpy="-1.5707963267948966 0 -1.5707963267948966" xyz="0 0 0"/>
    <parent link="d400_color_frame"/>
    <child link="d400_color_optical_frame"/>
  </joint>
  <link name="d400_color_optical_frame"/>
  <gazebo reference="d400_link">
    <self_collide>0</self_collide>
    <enable_wind>0</enable_wind>
    <kinematic>0</kinematic>
    <!-- <gravity>1</gravity> -->
    <!--<mu>1</mu>-->
    <mu2>1</mu2>
    <fdir1>0 0 0</fdir1>
    <!--<slip1>0</slip1>
      <slip2>0</slip2>-->
    <kp>1e+13</kp>
    <kd>1</kd>
    <!--<max_vel>0.01</max_vel>
      <min_depth>0</min_depth>-->
    <sensor name="d400color" type="camera">
      <camera name="d400">
        <horizontal_fov>1.2112585008840648</horizontal_fov>
        <image>
          <width>1920</width>
          <height>1080</height>
          <format>RGB_INT8</format>
        </image>
        <clip>
          <near>0.1</near>
          <far>100</far>
        </clip>
        <noise>
          <type>gaussian</type>
          <mean>0.0</mean>
          <stddev>0.007</stddev>
        </noise>
      </camera>
      <always_on>1</always_on>
      <update_rate>30</update_rate>
      <visualize>False</visualize>
    </sensor>
    <sensor name="d400ired1" type="camera">
      <camera name="d400">
        <horizontal_fov>1.4870205226991688</horizontal_fov>
        <image>
          <width>640</width>
          <height>480</height>
          <format>L_INT8</format>
        </image>
        <clip>
          <near>0.1</near>
          <far>100</far>
        </clip>
        <noise>
          <type>gaussian</type>
          <mean>0.0</mean>
          <stddev>0.05</stddev>
        </noise>
      </camera>
      <always_on>1</always_on>
      <update_rate>30</update_rate>
      <visualize>false</visualize>
    </sensor>
    <sensor name="d400ired2" type="camera">
      <camera name="d400">
        <horizontal_fov>1.4870205226991688</horizontal_fov>
        <image>
          <width>640</width>
          <height>480</height>
          <format>L_INT8</format>
        </image>
        <clip>
          <near>0.1</near>
          <far>100</far>
        </clip>
        <noise>
          <type>gaussian</type>
          <mean>0.0</mean>
          <stddev>0.05</stddev>
        </noise>
      </camera>
      <always_on>1</always_on>
      <update_rate>30</update_rate>
      <visualize>false</visualize>
    </sensor>
    <sensor name="d400depth" type="depth">
      <camera name="d400">
        <horizontal_fov>1.2112585008840648</horizontal_fov>
        <image>
          <width>1920</width>
          <height>1080</height>
        </image>
        <clip>
          <near>0.1</near>
          <far>100</far>
        </clip>
        <noise>
          <type>gaussian</type>
          <mean>0.0</mean>
          <stddev>0.100</stddev>
        </noise>
      </camera>
      <always_on>1</always_on>
      <update_rate>30</update_rate>
      <visualize>false</visualize>
    </sensor>
  </gazebo>
  <gazebo>
    <plugin filename="librealsense_gazebo_plugin.so" name="d400">
      <prefix>d400</prefix>
      <!-- Color camera settings -->
      <colorUpdateRate>30</colorUpdateRate>
      <colorTopicName>color/image_raw</colorTopicName>
      <colorOpticalframeName>d400_color_optical_frame</colorOpticalframeName>
      <colorCameraInfoTopicName>color/camera_info</colorCameraInfoTopicName>
      <!-- Infrared camera settings -->
      <infraredUpdateRate>30</infraredUpdateRate>
      <infrared1TopicName>infra1/image_rect_raw</infrared1TopicName>
      <infrared2TopicName>infra2/image_rect_raw</infrared2TopicName>
      <infrared1CameraInfoTopicName>infra1/camera_info</infrared1CameraInfoTopicName>
      <infrared2CameraInfoTopicName>infra2/camera_info</infrared2CameraInfoTopicName>
      <infrared1OpticalframeName>d400_left_ir_optical_frame</infrared1OpticalframeName>
      <infrared2OpticalframeName>d400_right_ir_optical_frame</infrared2OpticalframeName>
      <!-- Depth camera settings -->
      <rangeMinDepth>0.2</rangeMinDepth>
      <rangeMaxDepth>10.0</rangeMaxDepth>
      <depthUpdateRate>30</depthUpdateRate>
      <depthTopicName>aligned_depth_to_color/image_raw</depthTopicName>
      <depthCameraInfoTopicName>aligned_depth_to_color/camera_info</depthCameraInfoTopicName>
      <depthOpticalframeName>d400_color_optical_frame</depthOpticalframeName>
      <!-- Pointlcloud settings -->
      <pointCloud>True</pointCloud>
      <pointCloudTopicName>depth/color/points</pointCloudTopicName>
      <pointCloudCutoff>0.5</pointCloudCutoff>
    </plugin>
  </gazebo>
  <arg default="true" name="standalone_load"/>
  <arg default="omnibot_manipulator" name="robot_namespace"/>
  <!-- transmission -->
  <transmission name="ang_tran1">
    <type>transmission_interface/SimpleTransmission</type>
    <joint name="ang_joint1">
      <hardwareInterface>hardware_interface/EffortJointInterface</hardwareInterface>
    </joint>
    <actuator name="ang_motor1">
      <hardwareInterface>hardware_interface/EffortJointInterface</hardwareInterface>
      <mechanicalReduction>1</mechanicalReduction>
    </actuator>
  </transmission>
  <transmission name="ang_tran2">
    <type>transmission_interface/SimpleTransmission</type>
    <joint name="ang_joint2">
      <hardwareInterface>hardware_interface/EffortJointInterface</hardwareInterface>
    </joint>
    <actuator name="ang_motor2">
      <hardwareInterface>hardware_interface/EffortJointInterface</hardwareInterface>
      <mechanicalReduction>1</mechanicalReduction>
    </actuator>
  </transmission>
  <transmission name="ang_tran3">
    <type>transmission_interface/SimpleTransmission</type>
    <joint name="ang_joint3">
      <hardwareInterface>hardware_interface/EffortJointInterface</hardwareInterface>
    </joint>
    <actuator name="ang_motor3">
      <hardwareInterface>hardware_interface/EffortJointInterface</hardwareInterface>
      <mechanicalReduction>1</mechanicalReduction>
    </actuator>
  </transmission>
  <transmission name="ang_tran4">
    <type>transmission_interface/SimpleTransmission</type>
    <joint name="ang_joint4">
      <hardwareInterface>hardware_interface/EffortJointInterface</hardwareInterface>
    </joint>
    <actuator name="ang_motor4">
      <hardwareInterface>hardware_interface/EffortJointInterface</hardwareInterface>
      <mechanicalReduction>1</mechanicalReduction>
    </actuator>
  </transmission>
  <transmission name="ang_tran5">
    <type>transmission_interface/SimpleTransmission</type>
    <joint name="ang_joint5">
      <hardwareInterface>hardware_interface/EffortJointInterface</hardwareInterface>
    </joint>
    <actuator name="ang_motor5">
      <hardwareInterface>hardware_interface/EffortJointInterface</hardwareInterface>
      <mechanicalReduction>1</mechanicalReduction>
    </actuator>
  </transmission>
  <transmission name="ang_tran5">
    <type>transmission_interface/SimpleTransmission</type>
    <joint name="ang_gripper">
      <hardwareInterface>hardware_interface/EffortJointInterface</hardwareInterface>
    </joint>
    <actuator name="ang_motor5">
      <hardwareInterface>hardware_interface/EffortJointInterface</hardwareInterface>
      <mechanicalReduction>1</mechanicalReduction>
    </actuator>
  </transmission>
  <transmission name="ang_tran5">
    <type>transmission_interface/SimpleTransmission</type>
    <joint name="ang_gripper">
      <hardwareInterface>hardware_interface/EffortJointInterface</hardwareInterface>
    </joint>
    <actuator name="ang_motor5">
      <hardwareInterface>hardware_interface/EffortJointInterface</hardwareInterface>
      <mechanicalReduction>1</mechanicalReduction>
    </actuator>
  </transmission>
  <transmission name="ang_tran5">
    <type>transmission_interface/SimpleTransmission</type>
    <joint name="ang_gripper_sub">
      <hardwareInterface>hardware_interface/EffortJointInterface</hardwareInterface>
    </joint>
    <actuator name="ang_motor5">
      <hardwareInterface>hardware_interface/EffortJointInterface</hardwareInterface>
      <mechanicalReduction>1</mechanicalReduction>
    </actuator>
  </transmission>
  <gazebo reference="ang_link0">
    <material>Gazebo/Gray</material>
  </gazebo>
  <gazebo reference="ang_link1">
    <material>Gazebo/Gray</material>
  </gazebo>
  <gazebo reference="ang_link2">
    <material>Gazebo/Gray</material>
  </gazebo>
  <gazebo reference="ang_link3">
    <material>Gazebo/Gray</material>
  </gazebo>
  <gazebo reference="ang_link4">
    <material>Gazebo/Gray</material>
  </gazebo>
  <gazebo reference="ang_link5">
    <material>Gazebo/Gray</material>
  </gazebo>
  <gazebo reference="ang_link7">
    <material>Gazebo/Orange</material>
    <mu1>100.0</mu1>
    <mu2>100.0</mu2>
    <minDepth>0.001</minDepth>
    <maxVel>0</maxVel>
  </gazebo>
  <gazebo reference="ang_link6">
    <mu1>100.0</mu1>
    <mu2>100.0</mu2>
    <minDepth>0.001</minDepth>
    <maxVel>0</maxVel>
    <material>Gazebo/Orange</material>
  </gazebo>
  <link name="ang_link0">
    <visual>
      <geometry>
        <mesh filename="package://omnibot_manipulator_description/meshes/link1.dae" scale="0.001 0.001 0.001"/>
      </geometry>
    </visual>
    <inertial>
      <origin rpy="0 0 0" xyz="0 0 0.5"/>
      <mass value="0.5"/>
      <inertia ixx="0.01" ixy="0.0" ixz="0.0" iyy="0.01" iyz="0.0" izz="0.01"/>
    </inertial>
    <collision>
      <geometry>
        <mesh filename="package://omnibot_manipulator_description/meshes/link1.dae" scale="0.001 0.001 0.001"/>
      </geometry>
    </collision>
  </link>
  <joint name="ang_joint1" type="revolute">
    <parent link="ang_link0"/>
    <child link="ang_link1"/>
    <origin rpy="1.57 0 -1.57" xyz="0 0 0.107"/>
    <axis xyz="0 1 0"/>
    <dynamics damping="0.99"/>
    <limit effort="5.0" lower="-3.14" upper="3.14" velocity="5.0"/>
  </joint>
  <link name="ang_link1">
    <visual>
      <geometry>
        <mesh filename="package://omnibot_manipulator_description/meshes/link2.dae" scale="0.001 0.001 0.001"/>
      </geometry>
    </visual>
    <inertial>
      <origin rpy="0 0 0" xyz="0 0.25 0"/>
      <mass value="0.3"/>
      <inertia ixx="0.01" ixy="0.0" ixz="0.0" iyy="0.01" iyz="0.0" izz="0.01"/>
    </inertial>
    <collision>
      <geometry>
        <mesh filename="package://omnibot_manipulator_description/meshes/link2.dae" scale="0.001 0.001 0.001"/>
      </geometry>
    </collision>
  </link>
  <joint name="ang_joint2" type="revolute">
    <parent link="ang_link1"/>
    <child link="ang_link2"/>
    <origin rpy="0 0 0" xyz="0 0.0518 0"/>
    <axis xyz="0 0 1"/>
    <dynamics damping="0.99"/>
    <limit effort="5.0" lower="-1.57" upper="1.57" velocity="5.0"/>
  </joint>
  <link name="ang_link2">
    <visual>
      <geometry>
        <mesh filename="package://omnibot_manipulator_description/meshes/link3.dae" scale="0.001 0.001 0.001"/>
      </geometry>
    </visual>
    <inertial>
      <origin rpy="0 0 0" xyz="0 0.15 0"/>
      <mass value="0.3"/>
      <inertia ixx="0.01" ixy="0.0" ixz="0.0" iyy="0.01" iyz="0.0" izz="0.01"/>
    </inertial>
    <collision>
      <geometry>
        <mesh filename="package://omnibot_manipulator_description/meshes/link3.dae" scale="0.001 0.001 0.001"/>
      </geometry>
    </collision>
  </link>
  <joint name="ang_joint3" type="revolute">
    <parent link="ang_link2"/>
    <child link="ang_link3"/>
    <origin rpy="0 0 0" xyz="0.0626 0.1989 0"/>
    <axis xyz="0 0 1"/>
    <dynamics damping="0.99"/>
    <limit effort="5.0" lower="-1.57" upper="1.57" velocity="5.0"/>
  </joint>
  <link name="ang_link3">
    <visual>
      <geometry>
        <mesh filename="package://omnibot_manipulator_description/meshes/link4.dae" scale="0.001 0.001 0.001"/>
      </geometry>
    </visual>
    <inertial>
      <origin rpy="0 0 0" xyz="0 0 0"/>
      <mass value="0.3"/>
      <inertia ixx="0.01" ixy="0.0" ixz="0.0" iyy="0.01" iyz="0.0" izz="0.01"/>
    </inertial>
    <collision>
      <geometry>
        <mesh filename="package://omnibot_manipulator_description/meshes/link4.dae" scale="0.001 0.001 0.001"/>
      </geometry>
    </collision>
  </link>
  <joint name="ang_joint4" type="revolute">
    <parent link="ang_link3"/>
    <child link="ang_link4"/>
    <origin rpy="-1.57 0 1.57" xyz="0.13093 0 0"/>
    <axis xyz="0 -1 0"/>
    <dynamics damping="0.99"/>
    <limit effort="5.0" lower="-1.57" upper="1.57" velocity="5.0"/>
  </joint>
  <link name="ang_link4">
    <visual>
      <geometry>
        <mesh filename="package://omnibot_manipulator_description/meshes/link5.dae" scale="0.001 0.001 0.001"/>
      </geometry>
    </visual>
    <inertial>
      <origin rpy="0 0 0" xyz="0 0 0"/>
      <mass value="0.3"/>
      <inertia ixx="0.01" ixy="0.0" ixz="0.0" iyy="0.01" iyz="0.0" izz="0.01"/>
    </inertial>
    <collision>
      <geometry>
        <mesh filename="package://omnibot_manipulator_description/meshes/link5.dae" scale="0.001 0.001 0.001"/>
      </geometry>
    </collision>
  </link>
  <joint name="ang_joint5" type="revolute">
    <parent link="ang_link4"/>
    <child link="ang_link5"/>
    <origin rpy="0 0 0" xyz="0 0 -0.06174"/>
    <axis xyz="0 0 -1"/>
    <dynamics damping="0.99"/>
    <limit effort="5.0" lower="-2.6" upper="2.6" velocity="5.0"/>
  </joint>
  <link name="ang_link5">
    <visual>
      <geometry>
        <mesh filename="package://omnibot_manipulator_description/meshes/link6.dae" scale="0.001 0.001 0.001"/>
      </geometry>
    </visual>
    <inertial>
      <origin rpy="0 0 0" xyz="0 0 0"/>
      <mass value="0.3"/>
      <inertia ixx="0.01" ixy="0.0" ixz="0.0" iyy="0.01" iyz="0.0" izz="0.01"/>
    </inertial>
    <collision>
      <geometry>
        <mesh filename="package://omnibot_manipulator_description/meshes/link6.dae" scale="0.001 0.001 0.001"/>
      </geometry>
    </collision>
  </link>
  <joint name="ang_gripper" type="prismatic">
    <parent link="ang_link5"/>
    <child link="ang_link6"/>
    <origin rpy="1.57 3.14 0" xyz="0 0 -0.0715"/>
    <axis xyz="0 0 1"/>
    <limit effort="3" lower="0" upper="0.025" velocity="0.05"/>
    <dynamics damping="0.99"/>
  </joint>
  <link name="ang_link6">
    <collision>
      <geometry>
        <mesh filename="package://omnibot_manipulator_description/meshes/link7.dae" scale="0.001 0.001 0.001"/>
      </geometry>
    </collision>
    <visual>
      <geometry>
        <mesh filename="package://omnibot_manipulator_description/meshes/link7.dae" scale="0.001 0.001 0.001"/>
      </geometry>
    </visual>
    <inertial>
      <origin rpy="0 0 0" xyz="0 0 0"/>
      <mass value="0.3"/>
      <inertia ixx="0.01" ixy="0.0" ixz="0.0" iyy="0.01" iyz="0.0" izz="0.01"/>
    </inertial>
  </link>
  <joint name="ang_gripper_sub" type="prismatic">
    <parent link="ang_link5"/>
    <child link="ang_link7"/>
    <origin rpy="-1.57 0 0" xyz="0 0 -0.0715"/>
    <axis xyz="0 0 1"/>
    <limit effort="3" lower="0" upper="0.025" velocity="0.05"/>
    <mimic joint="ang_gripper" multiplier="1" offset="0"/>
    <dynamics damping="0.99"/>
  </joint>
  <link name="ang_link7">
    <collision>
      <geometry>
        <mesh filename="package://omnibot_manipulator_description/meshes/link7.dae" scale="0.001 0.001 0.001"/>
      </geometry>
    </collision>
    <visual>
      <geometry>
        <mesh filename="package://omnibot_manipulator_description/meshes/link7.dae" scale="0.001 0.001 0.001"/>
      </geometry>
    </visual>
    <inertial>
      <origin rpy="0 0 0" xyz="0 0 0"/>
      <mass value="0.1"/>
      <inertia ixx="0.01" ixy="0.0" ixz="0.0" iyy="0.01" iyz="0.0" izz="0.01"/>
    </inertial>
  </link>
  <joint name="manipulator_connector" type="fixed">
    <parent link="base_footprint"/>
    <child link="ang_link0"/>
    <origin rpy="0.0 0.0 1.57" xyz="0.096 0.0  0.113"/>
  </joint>
</robot>
